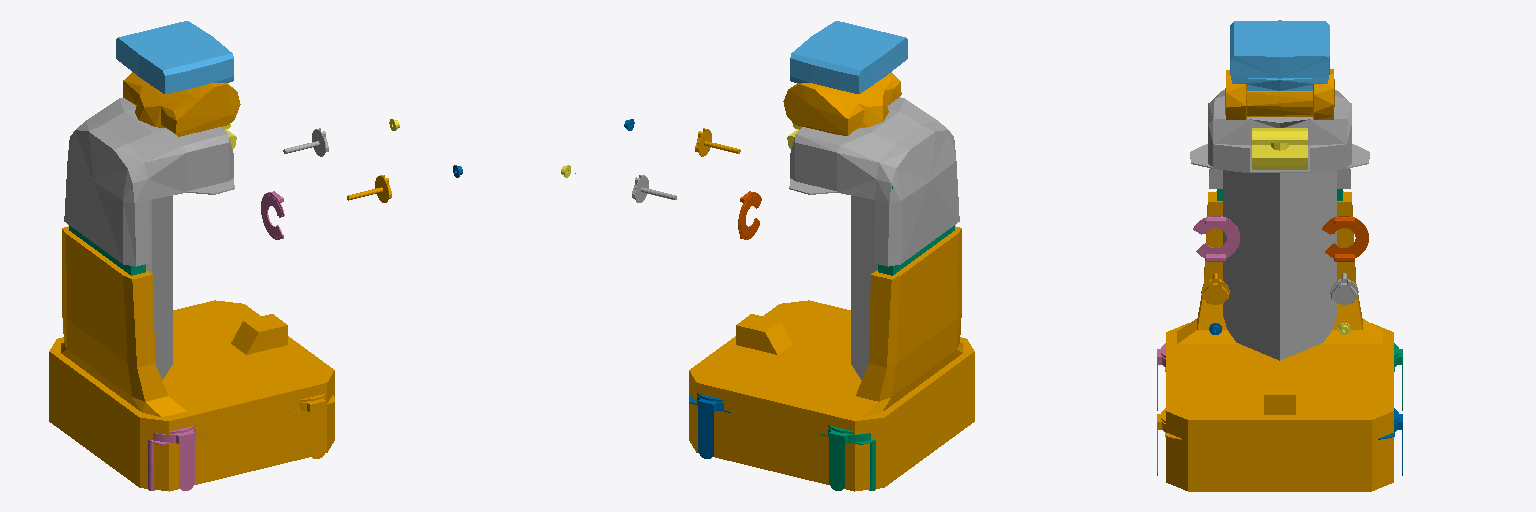
--- What the picture shows (computed from the rendered views, not written in the file) ---
The picture shows the robot from 3 angles, left to right: view 1: azimuth 30°, elevation 25°; view 2: azimuth 150°, elevation 25°; view 3: azimuth 270°, elevation 25°; orthographic projection.
Model pr2 with 50 links and 49 joints (21 revolute, 16 continuous, 1 prismatic, 11 fixed), rooted at base_footprint, posed all joints at 0.
Links seen in each view (by area): view 1: base_link, torso_lift_link, head_tilt_link, head_pan_link, br_caster_r_wheel_link, fr_caster_r_wheel_link, r_upper_arm_roll_link; view 2: base_link, torso_lift_link, head_tilt_link, head_pan_link, bl_caster_l_wheel_link, fl_caster_l_wheel_link, l_upper_arm_roll_link; view 3: base_link, torso_lift_link, head_tilt_link, head_pan_link, laser_tilt_mount_link, r_upper_arm_roll_link, l_upper_arm_roll_link, r_forearm_roll_link, l_forearm_roll_link.
Link boxes in pixels (bbox=[...]): base_link: bbox=[49, 226, 334, 491]; torso_lift_link: bbox=[64, 98, 234, 379]; head_tilt_link: bbox=[116, 21, 233, 93]; head_pan_link: bbox=[123, 72, 240, 136]; br_caster_r_wheel_link: bbox=[148, 425, 203, 490]; fr_caster_r_wheel_link: bbox=[293, 393, 334, 458]; r_upper_arm_roll_link: bbox=[261, 191, 284, 239]; base_link: bbox=[689, 226, 974, 491]; torso_lift_link: bbox=[789, 97, 959, 379]; head_tilt_link: bbox=[790, 21, 907, 93]; head_pan_link: bbox=[783, 72, 901, 135]; bl_caster_l_wheel_link: bbox=[820, 425, 875, 490]; fl_caster_l_wheel_link: bbox=[689, 393, 730, 458]; l_upper_arm_roll_link: bbox=[738, 191, 761, 239]; base_link: bbox=[1166, 191, 1393, 491]; torso_lift_link: bbox=[1190, 90, 1369, 360]; head_tilt_link: bbox=[1230, 20, 1329, 90]; head_pan_link: bbox=[1225, 69, 1334, 119]; laser_tilt_mount_link: bbox=[1252, 128, 1307, 169]; r_upper_arm_roll_link: bbox=[1193, 216, 1239, 261]; l_upper_arm_roll_link: bbox=[1322, 216, 1368, 261]; r_forearm_roll_link: bbox=[1201, 273, 1229, 304]; l_forearm_roll_link: bbox=[1330, 273, 1358, 304].
Bounding box of the posed robot: 1.15 × 0.7202 × 1.33 m (x, y, z).
Meshes: 18 distinct files referenced, 23 mesh visuals loaded (9 OBJ); not drawn: 22 (reference not matched to a file when rendering).

The robot description file, URDF, robot "pr2":
<?xml version="1.0" ?>
<!-- =================================================================================== -->
<!-- |    This document was autogenerated by xacro from pr2.urdf.xacro                 | -->
<!-- |    EDITING THIS FILE BY HAND IS NOT RECOMMENDED                                 | -->
<!-- =================================================================================== -->
<robot name="pr2" xmlns:xacro="http://www.ros.org/wiki/xacro">
  <link name="base_link">
    <inertial>
      <mass value="116.0"/>
      <origin xyz="-0.061 0.0 0.1465"/>
      <inertia ixx="5.652232699207" ixy="-0.009719934438" ixz="1.293988226423" iyy="5.669473158652" iyz="-0.007379583694" izz="3.683196351726"/>
    </inertial>
    <visual>
      <origin rpy="0 0 0" xyz="0 0 0"/>
      <geometry>
        <mesh filename="meshes_obj/base_v0/base_L.obj"/>
      </geometry>
    </visual>
    <collision>
      <origin rpy="0 0 0" xyz="0 0 0"/>
      <geometry>
        <mesh filename="meshes_obj/base_v0/base_L.obj"/>
      </geometry>
    </collision>
  </link>
  <link name="base_footprint">
    <inertial>
      <mass value="1.0"/>
      <origin xyz="0 0 0"/>
      <inertia ixx="0.01" ixy="0.0" ixz="0.0" iyy="0.01" iyz="0.0" izz="0.01"/>
    </inertial>
    <visual>
      <origin rpy="0 0 0" xyz="0 0 0"/>
      <geometry>
        <box size="0.01 0.01 0.01"/>
      </geometry>
    </visual>
    <collision>
      <origin rpy="0 0 0" xyz="0 0 0.071"/>
      <geometry>
        <box size="0.001 0.001 0.001"/>
      </geometry>
    </collision>
  </link>
  <joint name="base_footprint_joint" type="fixed">
    <origin rpy="0 0 0" xyz="0 0 0.051"/>
    <child link="base_link"/>
    <parent link="base_footprint"/>
  </joint>
  <!-- visualize bellow -->
  <link name="base_bellow_link">
    <inertial>
      <mass value="1.0"/>
      <origin xyz="0 0 0"/>
      <inertia ixx="0.01" ixy="0.0" ixz="0.0" iyy="0.01" iyz="0.0" izz="0.01"/>
    </inertial>
    <visual>
      <origin rpy="0 0 0" xyz="0 0 0"/>
      <geometry>
        <box size="0.05 0.37 0.3"/>
      </geometry>
    </visual>
    <collision>
      <origin rpy="0 0 0" xyz="0 0 0"/>
      <geometry>
        <box size="0.05 0.37 0.3"/>
      </geometry>
    </collision>
  </link>
  <joint name="base_bellow_joint" type="fixed">
    <origin rpy="0 0 0" xyz="-0.29 0 0.8"/>
    <parent link="base_link"/>
    <child link="base_bellow_link"/>
  </joint>
  <!-- <joint name="base_laser_joint" type="fixed">
    <axis xyz="0 1 0"/>
    <origin rpy="0 0 0" xyz="0.275 0.0 0.252"/>
    <parent link="base_link"/>
    <child link="base_laser_link"/>
  </joint>
  <link name="base_laser_link" type="laser">
    <inertial>
      <mass value="0.001"/>
      <origin rpy="0 0 0" xyz="0 0 0"/>
      <inertia ixx="0.0001" ixy="0" ixz="0" iyy="0.000001" iyz="0" izz="0.0001"/>
    </inertial>
  </link> -->
  <joint name="fl_caster_rotation_joint" type="continuous">
    <axis xyz="0 0 1"/>
    <limit effort="6.5" velocity="10"/>
    <!-- alpha tested velocity and effort limits -->
    <safety_controller k_velocity="10"/>
    <calibration rising="-0.785398163397"/>
    <dynamics damping="1.0" friction="0.0"/>
    <origin rpy="0 0 0" xyz="0.2246 0.2246 0.0282"/>
    <parent link="base_link"/>
    <child link="fl_caster_rotation_link"/>
  </joint>
  <link name="fl_caster_rotation_link">
    <inertial>
      <mass value="3.473082"/>
      <origin xyz="0 0 0.07"/>
      <inertia ixx="0.012411765597" ixy="-0.000711733678" ixz="0.00050272983" iyy="0.015218160428" iyz="-0.000004273467" izz="0.011763977943"/>
    </inertial>
    <visual>
      <origin rpy="0 0 0" xyz="0 0 0"/>
      <geometry>
        <mesh filename="meshes_obj/base_v0/caster.obj"/>
      </geometry>
    </visual>
    <collision>
      <origin rpy="0 0 0" xyz="0 0 0"/>
      <geometry>
        <mesh filename="meshes_obj/base_v0/caster_L.obj"/>
      </geometry>
    </collision>
  </link>
  <transmission name="fl_caster_rotation_trans" type="pr2_mechanism_model/SimpleTransmission">
    <actuator name="fl_caster_rotation_motor"/>
    <joint name="fl_caster_rotation_joint"/>
    <mechanicalReduction>-79.2380952381</mechanicalReduction>
  </transmission>
  <joint name="fl_caster_l_wheel_joint" type="continuous">
    <axis xyz="0 1 0"/>
    <limit effort="7" velocity="15"/>
    <!-- alpha tested effort and velocity limits -->
    <safety_controller k_velocity="10"/>
    <dynamics damping="1.0" friction="0.0"/>
    <origin rpy="0 0 0" xyz="0 0.049 0"/>
    <parent link="fl_caster_rotation_link"/>
    <child link="fl_caster_l_wheel_link"/>
  </joint>
  <link name="fl_caster_l_wheel_link">
    <inertial>
      <mass value="0.44036"/>
      <origin xyz="0 0 0"/>
      <inertia ixx="0.012411765597" ixy="-0.000711733678" ixz="0.00050272983" iyy="0.015218160428" iyz="-0.000004273467" izz="0.011763977943"/>
    </inertial>
    <visual>
      <origin rpy="0 0 0" xyz="0 0 0"/>
      <geometry>
        <mesh filename="meshes_obj/base_v0/caster.obj"/>
      </geometry>
    </visual>
    <collision>
      <origin rpy="1.57079632679 0 0" xyz="0 0 0"/>
      <!-- rotation because cyl. geom primitive has symmetry axis in +x direction -->
      <geometry>
        <cylinder length="0.034" radius="0.074792"/>
      </geometry>
    </collision>
  </link>
  <transmission name="fl_caster_l_wheel_trans" type="pr2_mechanism_model/SimpleTransmission">
    <actuator name="fl_caster_l_wheel_motor"/>
    <joint name="fl_caster_l_wheel_joint"/>
    <mechanicalReduction>79.2380952381</mechanicalReduction>
  </transmission>
  <joint name="fl_caster_r_wheel_joint" type="continuous">
    <axis xyz="0 1 0"/>
    <limit effort="7" velocity="15"/>
    <!-- alpha tested effort and velocity limits -->
    <safety_controller k_velocity="10"/>
    <dynamics damping="1.0" friction="0.0"/>
    <origin rpy="0 0 0" xyz="0 -0.049 0"/>
    <parent link="fl_caster_rotation_link"/>
    <child link="fl_caster_r_wheel_link"/>
  </joint>
  <link name="fl_caster_r_wheel_link">
    <inertial>
      <mass value="0.44036"/>
      <origin xyz="0 0 0"/>
      <inertia ixx="0.012411765597" ixy="-0.000711733678" ixz="0.00050272983" iyy="0.015218160428" iyz="-0.000004273467" izz="0.011763977943"/>
    </inertial>
    <visual>
      <origin rpy="0 0 0" xyz="0 0 0"/>
      <geometry>
        <mesh filename="meshes_obj/base_v0/caster.obj"/>
      </geometry>
    </visual>
    <collision>
      <origin rpy="1.57079632679 0 0" xyz="0 0 0"/>
      <!-- rotation because cyl. geom primitive has symmetry axis in +x direction -->
      <geometry>
        <cylinder length="0.034" radius="0.074792"/>
      </geometry>
    </collision>
  </link>
  <transmission name="fl_caster_r_wheel_trans" type="pr2_mechanism_model/SimpleTransmission">
    <actuator name="fl_caster_r_wheel_motor"/>
    <joint name="fl_caster_r_wheel_joint"/>
    <mechanicalReduction>-79.2380952381</mechanicalReduction>
  </transmission>
  <joint name="fr_caster_rotation_joint" type="continuous">
    <axis xyz="0 0 1"/>
    <limit effort="6.5" velocity="10"/>
    <!-- alpha tested velocity and effort limits -->
    <safety_controller k_velocity="10"/>
    <calibration rising="-0.785398163397"/>
    <dynamics damping="1.0" friction="0.0"/>
    <origin rpy="0 0 0" xyz="0.2246 -0.2246 0.0282"/>
    <parent link="base_link"/>
    <child link="fr_caster_rotation_link"/>
  </joint>
  <link name="fr_caster_rotation_link">
    <inertial>
      <mass value="3.473082"/>
      <origin xyz="0 0 0.07"/>
      <inertia ixx="0.012411765597" ixy="-0.000711733678" ixz="0.00050272983" iyy="0.015218160428" iyz="-0.000004273467" izz="0.011763977943"/>
    </inertial>
    <visual>
      <origin rpy="0 0 0" xyz="0 0 0"/>
      <geometry>
        <mesh filename="meshes_obj/base_v0/caster.obj"/>
      </geometry>
    </visual>
    <collision>
      <origin rpy="0 0 0" xyz="0 0 0"/>
      <geometry>
        <mesh filename="meshes_obj/base_v0/caster_L.obj"/>
      </geometry>
    </collision>
  </link>
  <transmission name="fr_caster_rotation_trans" type="pr2_mechanism_model/SimpleTransmission">
    <actuator name="fr_caster_rotation_motor"/>
    <joint name="fr_caster_rotation_joint"/>
    <mechanicalReduction>-79.2380952381</mechanicalReduction>
  </transmission>
  <joint name="fr_caster_l_wheel_joint" type="continuous">
    <axis xyz="0 1 0"/>
    <limit effort="7" velocity="15"/>
    <!-- alpha tested effort and velocity limits -->
    <safety_controller k_velocity="10"/>
    <dynamics damping="1.0" friction="0.0"/>
    <origin rpy="0 0 0" xyz="0 0.049 0"/>
    <parent link="fr_caster_rotation_link"/>
    <child link="fr_caster_l_wheel_link"/>
  </joint>
  <link name="fr_caster_l_wheel_link">
    <inertial>
      <mass value="0.44036"/>
      <origin xyz="0 0 0"/>
      <inertia ixx="0.012411765597" ixy="-0.000711733678" ixz="0.00050272983" iyy="0.015218160428" iyz="-0.000004273467" izz="0.011763977943"/>
    </inertial>
    <visual>
      <origin rpy="0 0 0" xyz="0 0 0"/>
      <geometry>
        <mesh filename="meshes_obj/base_v0/caster.obj"/>
      </geometry>
    </visual>
    <collision>
      <origin rpy="1.57079632679 0 0" xyz="0 0 0"/>
      <!-- rotation because cyl. geom primitive has symmetry axis in +x direction -->
      <geometry>
        <cylinder length="0.034" radius="0.074792"/>
      </geometry>
    </collision>
  </link>
  <transmission name="fr_caster_l_wheel_trans" type="pr2_mechanism_model/SimpleTransmission">
    <actuator name="fr_caster_l_wheel_motor"/>
    <joint name="fr_caster_l_wheel_joint"/>
    <mechanicalReduction>79.2380952381</mechanicalReduction>
  </transmission>
  <joint name="fr_caster_r_wheel_joint" type="continuous">
    <axis xyz="0 1 0"/>
    <limit effort="7" velocity="15"/>
    <!-- alpha tested effort and velocity limits -->
    <safety_controller k_velocity="10"/>
    <dynamics damping="1.0" friction="0.0"/>
    <origin rpy="0 0 0" xyz="0 -0.049 0"/>
    <parent link="fr_caster_rotation_link"/>
    <child link="fr_caster_r_wheel_link"/>
  </joint>
  <link name="fr_caster_r_wheel_link">
    <inertial>
      <mass value="0.44036"/>
      <origin xyz="0 0 0"/>
      <inertia ixx="0.012411765597" ixy="-0.000711733678" ixz="0.00050272983" iyy="0.015218160428" iyz="-0.000004273467" izz="0.011763977943"/>
    </inertial>
    <visual>
      <origin rpy="0 0 0" xyz="0 0 0"/>
      <geometry>
        <mesh filename="meshes_obj/base_v0/caster.obj"/>
      </geometry>
    </visual>
    <collision>
      <origin rpy="1.57079632679 0 0" xyz="0 0 0"/>
      <!-- rotation because cyl. geom primitive has symmetry axis in +x direction -->
      <geometry>
        <cylinder length="0.034" radius="0.074792"/>
      </geometry>
    </collision>
  </link>
  <transmission name="fr_caster_r_wheel_trans" type="pr2_mechanism_model/SimpleTransmission">
    <actuator name="fr_caster_r_wheel_motor"/>
    <joint name="fr_caster_r_wheel_joint"/>
    <mechanicalReduction>-79.2380952381</mechanicalReduction>
  </transmission>
  <joint name="bl_caster_rotation_joint" type="continuous">
    <axis xyz="0 0 1"/>
    <limit effort="6.5" velocity="10"/>
    <!-- alpha tested velocity and effort limits -->
    <safety_controller k_velocity="10"/>
    <calibration rising="2.35619449019"/>
    <dynamics damping="1.0" friction="0.0"/>
    <origin rpy="0 0 0" xyz="-0.2246 0.2246 0.0282"/>
    <parent link="base_link"/>
    <child link="bl_caster_rotation_link"/>
  </joint>
  <link name="bl_caster_rotation_link">
    <inertial>
      <mass value="3.473082"/>
      <origin xyz="0 0 0.07"/>
      <inertia ixx="0.012411765597" ixy="-0.000711733678" ixz="0.00050272983" iyy="0.015218160428" iyz="-0.000004273467" izz="0.011763977943"/>
    </inertial>
    <visual>
      <origin rpy="0 0 0" xyz="0 0 0"/>
      <geometry>
        <mesh filename="meshes_obj/base_v0/caster.obj"/>
      </geometry>
    </visual>
    <collision>
      <origin rpy="0 0 0" xyz="0 0 0"/>
      <geometry>
        <mesh filename="meshes_obj/base_v0/caster_L.obj"/>
      </geometry>
    </collision>
  </link>
  <transmission name="bl_caster_rotation_trans" type="pr2_mechanism_model/SimpleTransmission">
    <actuator name="bl_caster_rotation_motor"/>
    <joint name="bl_caster_rotation_joint"/>
    <mechanicalReduction>-79.2380952381</mechanicalReduction>
  </transmission>
  <joint name="bl_caster_l_wheel_joint" type="continuous">
    <axis xyz="0 1 0"/>
    <limit effort="7" velocity="15"/>
    <!-- alpha tested effort and velocity limits -->
    <safety_controller k_velocity="10"/>
    <dynamics damping="1.0" friction="0.0"/>
    <origin rpy="0 0 0" xyz="0 0.049 0"/>
    <parent link="bl_caster_rotation_link"/>
    <child link="bl_caster_l_wheel_link"/>
  </joint>
  <link name="bl_caster_l_wheel_link">
    <inertial>
      <mass value="0.44036"/>
      <origin xyz="0 0 0"/>
      <inertia ixx="0.012411765597" ixy="-0.000711733678" ixz="0.00050272983" iyy="0.015218160428" iyz="-0.000004273467" izz="0.011763977943"/>
    </inertial>
    <visual>
      <origin rpy="0 0 0" xyz="0 0 0"/>
      <geometry>
        <mesh filename="meshes_obj/base_v0/caster.obj"/>
      </geometry>
    </visual>
    <collision>
      <origin rpy="1.57079632679 0 0" xyz="0 0 0"/>
      <!-- rotation because cyl. geom primitive has symmetry axis in +x direction -->
      <geometry>
        <cylinder length="0.034" radius="0.074792"/>
      </geometry>
    </collision>
  </link>
  <!-- <gazebo reference="bl_caster_l_wheel_link">
    <mu1 value="100.0"/>
    <mu2 value="100.0"/>
    <kp value="1000000.0"/>
    <kd value="1.0"/>
    <maxVel value="100.0"/>
    <minDepth value="0.0"/>
  </gazebo> -->
  <transmission name="bl_caster_l_wheel_trans" type="pr2_mechanism_model/SimpleTransmission">
    <actuator name="bl_caster_l_wheel_motor"/>
    <joint name="bl_caster_l_wheel_joint"/>
    <mechanicalReduction>79.2380952381</mechanicalReduction>
  </transmission>
  <joint name="bl_caster_r_wheel_joint" type="continuous">
    <axis xyz="0 1 0"/>
    <limit effort="7" velocity="15"/>
    <!-- alpha tested effort and velocity limits -->
    <safety_controller k_velocity="10"/>
    <dynamics damping="1.0" friction="0.0"/>
    <origin rpy="0 0 0" xyz="0 -0.049 0"/>
    <parent link="bl_caster_rotation_link"/>
    <child link="bl_caster_r_wheel_link"/>
  </joint>
  <link name="bl_caster_r_wheel_link">
    <inertial>
      <mass value="0.44036"/>
      <origin xyz="0 0 0"/>
      <inertia ixx="0.012411765597" ixy="-0.000711733678" ixz="0.00050272983" iyy="0.015218160428" iyz="-0.000004273467" izz="0.011763977943"/>
    </inertial>
    <visual>
      <origin rpy="0 0 0" xyz="0 0 0"/>
      <geometry>
        <mesh filename="meshes_obj/base_v0/caster.obj"/>
      </geometry>
    </visual>
    <collision>
      <origin rpy="1.57079632679 0 0" xyz="0 0 0"/>
      <!-- rotation because cyl. geom primitive has symmetry axis in +x direction -->
      <geometry>
        <cylinder length="0.034" radius="0.074792"/>
      </geometry>
    </collision>
  </link>
  <!-- <gazebo reference="bl_caster_r_wheel_link">
    <mu1 value="100.0"/>
    <mu2 value="100.0"/>
    <kp value="1000000.0"/>
    <kd value="1.0"/>
    <maxVel value="100.0"/>
    <minDepth value="0.0"/>
  </gazebo> -->
  <transmission name="bl_caster_r_wheel_trans" type="pr2_mechanism_model/SimpleTransmission">
    <actuator name="bl_caster_r_wheel_motor"/>
    <joint name="bl_caster_r_wheel_joint"/>
    <mechanicalReduction>-79.2380952381</mechanicalReduction>
  </transmission>
  <!-- <gazebo reference="bl_caster_rotation_link">
    <material value="PR2/caster_texture"/>
  </gazebo> -->
  <joint name="br_caster_rotation_joint" type="continuous">
    <axis xyz="0 0 1"/>
    <limit effort="6.5" velocity="10"/>
    <!-- alpha tested velocity and effort limits -->
    <safety_controller k_velocity="10"/>
    <calibration rising="2.35619449019"/>
    <dynamics damping="1.0" friction="0.0"/>
    <origin rpy="0 0 0" xyz="-0.2246 -0.2246 0.0282"/>
    <parent link="base_link"/>
    <child link="br_caster_rotation_link"/>
  </joint>
  <link name="br_caster_rotation_link">
    <inertial>
      <mass value="3.473082"/>
      <origin xyz="0 0 0.07"/>
      <inertia ixx="0.012411765597" ixy="-0.000711733678" ixz="0.00050272983" iyy="0.015218160428" iyz="-0.000004273467" izz="0.011763977943"/>
    </inertial>
    <visual>
      <origin rpy="0 0 0" xyz="0 0 0"/>
      <geometry>
        <mesh filename="meshes_obj/base_v0/caster.obj"/>
      </geometry>
    </visual>
    <collision>
      <origin rpy="0 0 0" xyz="0 0 0"/>
      <geometry>
        <mesh filename="meshes_obj/base_v0/caster_L.obj"/>
      </geometry>
    </collision>
  </link>
  <transmission name="br_caster_rotation_trans" type="pr2_mechanism_model/SimpleTransmission">
    <actuator name="br_caster_rotation_motor"/>
    <joint name="br_caster_rotation_joint"/>
    <mechanicalReduction>-79.2380952381</mechanicalReduction>
  </transmission>
  <joint name="br_caster_l_wheel_joint" type="continuous">
    <axis xyz="0 1 0"/>
    <limit effort="7" velocity="15"/>
    <!-- alpha tested effort and velocity limits -->
    <safety_controller k_velocity="10"/>
    <dynamics damping="1.0" friction="0.0"/>
    <origin rpy="0 0 0" xyz="0 0.049 0"/>
    <parent link="br_caster_rotation_link"/>
    <child link="br_caster_l_wheel_link"/>
  </joint>
  <link name="br_caster_l_wheel_link">
    <inertial>
      <mass value="0.44036"/>
      <origin xyz="0 0 0"/>
      <inertia ixx="0.012411765597" ixy="-0.000711733678" ixz="0.00050272983" iyy="0.015218160428" iyz="-0.000004273467" izz="0.011763977943"/>
    </inertial>
    <visual>
      <origin rpy="0 0 0" xyz="0 0 0"/>
      <geometry>
        <mesh filename="meshes_obj/base_v0/caster.obj"/>
      </geometry>
    </visual>
    <collision>
      <origin rpy="1.57079632679 0 0" xyz="0 0 0"/>
      <!-- rotation because cyl. geom primitive has symmetry axis in +x direction -->
      <geometry>
        <cylinder length="0.034" radius="0.074792"/>
      </geometry>
    </collision>
  </link>
  <!-- <gazebo reference="br_caster_l_wheel_link">
    <mu1 value="100.0"/>
    <mu2 value="100.0"/>
    <kp value="1000000.0"/>
    <kd value="1.0"/>
    <maxVel value="100.0"/>
    <minDepth value="0.0"/>
  </gazebo> -->
  <transmission name="br_caster_l_wheel_trans" type="pr2_mechanism_model/SimpleTransmission">
    <actuator name="br_caster_l_wheel_motor"/>
    <joint name="br_caster_l_wheel_joint"/>
    <mechanicalReduction>79.2380952381</mechanicalReduction>
  </transmission>
  <joint name="br_caster_r_wheel_joint" type="continuous">
    <axis xyz="0 1 0"/>
    <limit effort="7" velocity="15"/>
    <!-- alpha tested effort and velocity limits -->
    <safety_controller k_velocity="10"/>
    <dynamics damping="1.0" friction="0.0"/>
    <origin rpy="0 0 0" xyz="0 -0.049 0"/>
    <parent link="br_caster_rotation_link"/>
    <child link="br_caster_r_wheel_link"/>
  </joint>
  <link name="br_caster_r_wheel_link">
    <inertial>
      <mass value="0.44036"/>
      <origin xyz="0 0 0"/>
      <inertia ixx="0.012411765597" ixy="-0.000711733678" ixz="0.00050272983" iyy="0.015218160428" iyz="-0.000004273467" izz="0.011763977943"/>
    </inertial>
    <visual>
      <origin rpy="0 0 0" xyz="0 0 0"/>
      <geometry>
        <mesh filename="meshes_obj/base_v0/caster.obj"/>
      </geometry>
    </visual>
    <collision>
      <origin rpy="1.57079632679 0 0" xyz="0 0 0"/>
      <!-- rotation because cyl. geom primitive has symmetry axis in +x direction -->
      <geometry>
        <cylinder length="0.034" radius="0.074792"/>
      </geometry>
    </collision>
  </link>
  <!-- <gazebo reference="br_caster_r_wheel_link">
    <mu1 value="100.0"/>
    <mu2 value="100.0"/>
    <kp value="1000000.0"/>
    <kd value="1.0"/>
    <maxVel value="100.0"/>
    <minDepth value="0.0"/>
  </gazebo> -->
  <transmission name="br_caster_r_wheel_trans" type="pr2_mechanism_model/SimpleTransmission">
    <actuator name="br_caster_r_wheel_motor"/>
    <joint name="br_caster_r_wheel_joint"/>
    <mechanicalReduction>-79.2380952381</mechanicalReduction>
  </transmission>
  <!-- <gazebo reference="br_caster_rotation_link">
    <material value="PR2/caster_texture"/>
  </gazebo>
  <gazebo reference="base_link">
    <selfCollide>false</selfCollide>
    <sensor name="base_contact_sensor" type="contact">
      <always_on>true</always_on>
      <update_rate>100.0</update_rate>
      <contact>
        <collision>base_link_collision</collision>
      </contact>
      <plugin filename="libgazebo_ros_bumper.so" name="base_gazebo_ros_bumper_controller">
        <alwaysOn>true</alwaysOn>
        <updateRate>100.0</updateRate>
        <bumperTopicName>base_bumper</bumperTopicName>
        <frameName>world</frameName>
      </plugin>
    </sensor>
  </gazebo>
  <gazebo reference="base_bellow_link">
    <material value="PR2/Black"/>
  </gazebo>
  <gazebo>
    <plugin filename="libgazebo_ros_p3d.so" name="p3d_base_controller">
      <alwaysOn>true</alwaysOn>
      <updateRate>100.0</updateRate>
      <bodyName>base_link</bodyName>
      <topicName>base_pose_ground_truth</topicName>
      <gaussianNoise>0.01</gaussianNoise>
      <frameName>map</frameName>
      <xyzOffsets>0 0 0</xyzOffsets>
      <rpyOffsets>0 0 0</rpyOffsets>
    </plugin>
  </gazebo> -->
  <joint name="torso_lift_joint" type="prismatic">
    <axis xyz="0 0 1"/>
    <limit effort="10000" lower="0.0" upper="0.33" velocity="0.013"/>
    <!-- alpha tested velocity and effort limits -->
    <safety_controller k_position="100" k_velocity="2000000" soft_lower_limit="0.0115" soft_upper_limit="0.325"/>
    <calibration falling="0.00475"/>
    <dynamics damping="20000.0"/>
    <origin rpy="0 0 0" xyz="-0.05 0 0.739675"/>
    <parent link="base_link"/>
    <child link="torso_lift_link"/>
  </joint>
  <link name="torso_lift_link">
    <inertial>
      <mass value="36.248046"/>
      <origin xyz="-0.1 0 -0.0885"/>
      <inertia ixx="2.771653750257" ixy="0.004284522609" ixz="-0.160418504506" iyy="2.510019507959" iyz="0.029664468704" izz="0.526432355569"/>
    </inertial>
    <visual>
      <origin rpy="0 0 0" xyz="0 0 0"/>
      <geometry>
        <mesh filename="meshes_obj/torso_v0/torso_lift_L.obj"/>
      </geometry>
    </visual>
    <collision name="torso_lift_collision">
      <origin rpy="0 0 0" xyz="0 0 0"/>
      <geometry>
        <mesh filename="meshes_obj/torso_v0/torso_lift_L.obj"/>
      </geometry>
    </collision>
  </link>
  <!-- <joint name="l_torso_lift_side_plate_joint" type="fixed">
    <origin xyz="0.0535 0.209285 0.176625"/>
    <parent link="torso_lift_link"/>
    <child link="l_torso_lift_side_plate_link"/>
  </joint>
  <link name="l_torso_lift_side_plate_link">
    <inertial>
      <mass value="0.1"/>
      <origin xyz="-0.0625 0.0 0.05"/>
      <inertia ixx="0.001" ixy="0.0" ixz="0.0" iyy="0.001" iyz="0.0" izz="0.001"/>
    </inertial>
  </link> -->
  <!-- <joint name="r_torso_lift_side_plate_joint" type="fixed">
    <origin xyz="0.0535  -0.209285 0.176625"/>
    <parent link="torso_lift_link"/>
    <child link="r_torso_lift_side_plate_link"/>
  </joint>
  <link name="r_torso_lift_side_plate_link">
    <inertial>
      <mass value="0.1"/>
      <origin xyz="-0.0625 0.0 0.05"/>
      <inertia ixx="0.001" ixy="0.0" ixz="0.0" iyy="0.001" iyz="0.0" izz="0.001"/>
    </inertial>
  </link> -->
  <!-- <link name="torso_lift_motor_screw_link">
    <inertial>
      <mass value="1.0"/>
      <origin rpy="0 0 0" xyz="0 0 0"/>
      <inertia ixx="0.001" ixy="0.0" ixz="0.0" iyy="0.001" iyz="0.0" izz="0.001"/>
    </inertial>
  </link>
  <joint name="torso_lift_motor_screw_joint" type="continuous">
    <origin xyz="-0.15 0.0 0.7"/>
    <axis xyz="0 0 1"/>
    <parent link="base_link"/>
    <child link="torso_lift_motor_screw_link"/>
    <dynamics damping="0.0001"/>
  </joint> -->
  <!-- <gazebo reference="torso_lift_link">
    <sensor name="torso_lift_contact_sensor" type="contact">
      <contact>
        <collision>torso_lift_link_collision</collision>
      </contact>
      <update_rate>100.0</update_rate>
      <plugin filename="libgazebo_ros_bumper.so" name="torso_lift_gazebo_ros_bumper_controller">
        <alwaysOn>true</alwaysOn>
        <updateRate>100.0</updateRate>
        <bumperTopicName>torso_lift_bumper</bumperTopicName>
        <frameName>world</frameName>
      </plugin>
    </sensor>
  </gazebo>
  <gazebo>
    <joint name="torso_lift_screw_torso_lift_joint" type="screw">
      <parent>torso_lift_link</parent>
      <child>torso_lift_motor_screw_link</child>
      <axis>
        <xyz>0 0 1</xyz>
      </axis>
      <thread_pitch>3141.6</thread_pitch>
    </joint>
  </gazebo> -->
  <transmission name="torso_lift_trans" type="pr2_mechanism_model/SimpleTransmission">
    <actuator name="torso_lift_motor"/>
    <joint name="torso_lift_joint"/>
    <mechanicalReduction>-47641.53</mechanicalReduction>
    <simulated_actuated_joint name="torso_lift_motor_screw_joint" simulated_reduction="3141.6"/>
  </transmission>
  <!-- <joint name="imu_joint" type="fixed">
    <axis xyz="0 1 0"/>
    <origin rpy="0 3.14159265359 0" xyz="-0.02977 -0.1497 0.164"/>
    <parent link="torso_lift_link"/>
    <child link="imu_link"/>
  </joint>
  <link name="imu_link">
    <inertial>
      <mass value="0.001"/>
      <origin rpy="0 0 0" xyz="0 0 0"/>
      <inertia ixx="0.0001" ixy="0" ixz="0" iyy="0.000001" iyz="0" izz="0.0001"/>
    </inertial>
  </link> -->
  <!-- <gazebo>
    <plugin filename="libgazebo_ros_imu.so" name="imu_controller">
      <alwaysOn>true</alwaysOn>
      <updateRate>100.0</updateRate>
      <bodyName>imu_link</bodyName>
      <topicName>torso_lift_imu/data</topicName>
      <gaussianNoise>2.89e-08</gaussianNoise>
      <xyzOffset>0 0 0</xyzOffset>
      <rpyOffset>0 -180.0 0</rpyOffset>
      <serviceName>/default_imu</serviceName>
    </plugin>
  </gazebo> -->
  <joint name="head_pan_joint" type="revolute">
    <axis xyz="0 0 1"/>
    <limit effort="2.645" lower="-3.007" upper="3.007" velocity="6"/>
    <!-- alpha tested velocity and effort limits -->
    <safety_controller k_position="100" k_velocity="1.5" soft_lower_limit="-2.857" soft_upper_limit="2.857"/>
    <calibration rising="0.0"/>
    <dynamics damping="0.5"/>
    <origin rpy="0.0 0.0 0.0" xyz="-0.01707 0.0 0.38145"/>
    <parent link="torso_lift_link"/>
    <child link="head_pan_link"/>
  </joint>
  <link name="head_pan_link">
    <inertial>
      <mass value="6.339"/>
      <!-- mass/cog/moi updated per 100505_link_data.xls -->
      <origin rpy="0 0 0" xyz="0.010907 0.031693 0.090507"/>
      <inertia ixx="0.032497592" ixy="0.00063604088" ixz="0.0025851534" iyy="0.046545627" iyz="-0.0024534295" izz="0.057652724"/>
    </inertial>
    <visual>
      <origin rpy="0 0 0 " xyz="0 0 0.0"/>
      <geometry>
        <mesh filename="meshes_obj/head_v0/head_pan_L.obj"/>
      </geometry>
    </visual>
    <collision>
      <geometry>
        <mesh filename="meshes_obj/head_v0/head_pan_L.obj"/>
      </geometry>
    </collision>
  </link>
  <transmission name="head_pan_trans" type="pr2_mechanism_model/SimpleTransmission">
    <actuator name="head_pan_motor"/>
    <joint name="head_pan_joint"/>
    <mechanicalReduction>6.0</mechanicalReduction>
  </transmission>
  <joint name="head_tilt_joint" type="revolute">
    <axis xyz="0 1 0"/>
    <limit effort="18" lower="-0.471238" upper="1.39626" velocity="5"/>
    <!-- alpha tested velocity and effort limits -->
    <safety_controller k_position="100" k_velocity="3.0" soft_lower_limit="-0.3712" soft_upper_limit="1.29626"/>
    <calibration falling="0.0"/>
    <dynamics damping="10.0"/>
    <origin rpy="0 0 0" xyz="0.068 0 0"/>
    <parent link="head_pan_link"/>
    <child link="head_tilt_link"/>
  </joint>
  <link name="head_tilt_link">
    <inertial>
      <mass value="4.479"/>
      <!-- mass/cog/moi updated per 100505_link_data.xls -->
      <origin rpy="0 0 0" xyz="0.001716 -0.019556 0.055002"/>
      <inertia ixx="0.024223222" ixy="0.00062063507" ixz="-0.000096909696" iyy="0.054723086" iyz="0.00279702400" izz="0.067306377"/>
    </inertial>
    <visual>
      <origin rpy="0.0 0.0 0.0" xyz="0 0 0"/>
      <geometry>
        <mesh filename="meshes_obj/head_v0/head_tilt_L.obj"/>
      </geometry>
    </visual>
    <collision>
      <origin rpy="0.0 0.0 0.0" xyz="0 0 0"/>
      <geometry>
        <mesh filename="meshes_obj/head_v0/head_tilt_L.obj"/>
      </geometry>
    </collision>
  </link>
  <transmission name="head_tilt_trans" type="pr2_mechanism_model/SimpleTransmission">
    <actuator name="head_tilt_motor"/>
    <joint name="head_tilt_joint"/>
    <mechanicalReduction>6.0</mechanicalReduction>
  </transmission>
  <!-- Head plate frame -->
  <joint name="head_plate_frame_joint" type="fixed">
    <origin rpy="0 0 0" xyz="0.0232 0 0.0645"/>
    <parent link="head_tilt_link"/>
    <child link="head_plate_frame"/>
  </joint>
  <link name="head_plate_frame">
    <inertial>
      <mass value="0.01"/>
      <origin rpy="0 0 0" xyz="0 0 0"/>
      <inertia ixx="0.001" ixy="0.0" ixz="0.0" iyy="0.001" iyz="0.0" izz="0.001"/>
    </inertial>
    <visual>
      <origin rpy="0 0 0" xyz="0 0 0"/>
      <geometry>
        <box size="0.01 0.01 0.01"/>
      </geometry>
    </visual>
    <collision>
      <origin rpy="0 0 0" xyz="0 0 0"/>
      <geometry>
        <box size="0.01 0.01 0.01"/>
      </geometry>
    </collision>
  </link>
  <!-- <gazebo reference="head_plate_frame">
    <material value="Gazebo/Grey"/>
  </gazebo> -->
  <!-- <joint name="sensor_mount_frame_joint" type="fixed">
    <origin rpy="0 0 0" xyz="0.0 0.0 0.0"/>
    <parent link="head_plate_frame"/>
    <child link="sensor_mount_link"/>
  </joint>
  <link name="sensor_mount_link">
    <inertial>
      <mass value="0.05"/>
      <origin rpy="0 0 0" xyz="0 0 0"/>
      <inertia ixx="0.001" ixy="0.0" ixz="0.0" iyy="0.001" iyz="0.0" izz="0.01"/>
    </inertial>
    <visual>
      <origin rpy="0 0 0" xyz="0 0 0"/>
      <geometry>
        <box size="0.01 0.01 0.01"/>
      </geometry>
    </visual>
  </link>
  <joint name="high_def_frame_joint" type="fixed">
    <origin rpy="0 0 0" xyz="0.046457 -0.110 0.054600"/>
    <parent link="sensor_mount_link"/>
    <child link="high_def_frame"/>
  </joint> -->
  <!-- <link name="high_def_frame">
    <inertial>
      <mass value="0.01"/>
      <origin rpy="0 0 0" xyz="0 0 0"/>
      <inertia ixx="0.001" ixy="0.0" ixz="0.0" iyy="0.001" iyz="0.0" izz="0.001"/>
    </inertial>
  </link>
  <joint name="high_def_optical_frame_joint" type="fixed">
    <origin rpy="-1.57079632679 0.0 -1.57079632679" xyz="0.0            0.0         0.0"/>
    <parent link="high_def_frame"/>
    <child link="high_def_optical_frame"/>
  </joint>
  <link name="high_def_optical_frame">
    <inertial>
      <mass value="0.01"/>
      <origin rpy="0 0 0" xyz="0 0 0"/>
      <inertia ixx="0.001" ixy="0.0" ixz="0.0" iyy="0.001" iyz="0.0" izz="0.001"/>
    </inertial>
  </link> -->
  <!-- <gazebo reference="high_def_frame">
    <sensor name="high_def_sensor" type="camera">
      <always_on>true</always_on>
      <update_rate>20.0</update_rate>
      <camera>
        <horizontal_fov>0.785398163397</horizontal_fov>
        <image>
          <format>R8G8B8</format>
          <width>2448</width>
          <height>2050</height>
        </image>
        <clip>
          <near>0.1</near>
          <far>100</far>
        </clip>
      </camera>
      <plugin filename="libgazebo_ros_prosilica.so" name="high_def_controller">
        <updateRate>20.0</updateRate>
        <cameraName>prosilica</cameraName>
        <imageTopicName>image_raw</imageTopicName>
        <cameraInfoTopicName>camera_info</cameraInfoTopicName>
        <pollServiceName>request_image</pollServiceName>
        <frameName>high_def_optical_frame</frameName>
        <CxPrime>1224.5</CxPrime>
        <Cx>1224.5</Cx>
        <Cy>1025.5</Cy>
        <focalLength>2954.998083</focalLength>
        <distortionK1>0.0</distortionK1>
        <distortionK2>0.0</distortionK2>
        <distortionK3>0.0</distortionK3>
        <distortionT1>0.0</distortionT1>
        <distortionT2>0.0</distortionT2>
      </plugin>
    </sensor>
    <material value="Gazebo/Black"/>
  </gazebo> -->
  <!-- Define link to stereo cameras, set origin relative to that -->
  <!-- <joint name="double_stereo_frame_joint" type="fixed">
    <origin rpy="0 0 0" xyz="0.0 0.0 0.0"/>
    <parent link="sensor_mount_link"/>
    <child link="double_stereo_link"/>
  </joint>
  <link name="double_stereo_link">
    <inertial>
      <mass value="0.1"/>
      <origin rpy="0 0 0" xyz="0 0 0"/>
      <inertia ixx="0.001" ixy="0.0" ixz="0.0" iyy="0.001" iyz="0.0" izz="0.01"/>
    </inertial>
    <visual>
      <origin rpy="0 0 0" xyz="-0.01 0 0.025"/>
      <geometry>
        <box size="0.02 0.12 0.05"/>
      </geometry>
    </visual>
  </link>
  <joint name="wide_stereo_frame_joint" type="fixed">
    <origin rpy="0.0   0.0   0.0" xyz="0.045 0.03 0.0501"/>
    <parent link="double_stereo_link"/>
    <child link="wide_stereo_link"/>
  </joint> -->
  <!-- camera link is at center of the optical frame, but in x-forward notation -->
  <!-- <link name="wide_stereo_link">
    <inertial>
      <mass value="0.1"/>
      <origin rpy="0 0 0" xyz="0 0 0"/>
      <inertia ixx="0.01" ixy="0" ixz="0" iyy="0.01" iyz="0" izz="0.01"/>
    </inertial>
  </link>
  <joint name="wide_stereo_optical_frame_joint" type="fixed">
    <origin rpy="-1.57079632679 0.0 -1.57079632679" xyz="0 0 0"/>
    <parent link="wide_stereo_link"/>
    <child link="wide_stereo_optical_frame"/>
  </joint>
  <link name="wide_stereo_optical_frame" type="camera"/>
  <joint name="wide_stereo_l_stereo_camera_frame_joint" type="fixed">
    <origin rpy="0 0 0" xyz="0 0 0"/>
    <parent link="wide_stereo_link"/>
    <child link="wide_stereo_l_stereo_camera_frame"/>
  </joint>
  <link name="wide_stereo_l_stereo_camera_frame">
    <inertial>
      <mass value="0.01"/>
      <origin xyz="0 0 0"/>
      <inertia ixx="0.001" ixy="0.0" ixz="0.0" iyy="0.001" iyz="0.0" izz="0.001"/>
    </inertial>
  </link>
  <joint name="wide_stereo_l_stereo_camera_optical_frame_joint" type="fixed">
    <origin rpy="-1.57079632679 0.0 -1.57079632679" xyz="0 0 0"/>
    <parent link="wide_stereo_l_stereo_camera_frame"/>
    <child link="wide_stereo_l_stereo_camera_optical_frame"/>
  </joint>
  <link name="wide_stereo_l_stereo_camera_optical_frame"/> -->
  <!-- <gazebo reference="wide_stereo_l_stereo_camera_frame">
    <sensor name="wide_stereo_l_stereo_camera_sensor" type="camera">
      <always_on>true</always_on>
      <update_rate>25.0</update_rate>
      <camera>
        <horizontal_fov>1.57079632679</horizontal_fov>
        <image>
          <format>BAYER_BGGR8</format>
          <width>640</width>
          <height>480</height>
        </image>
        <clip>
          <near>0.1</near>
          <far>100</far>
        </clip>
      </camera>
      <plugin filename="libgazebo_ros_camera.so" name="wide_stereo_l_stereo_camera_controller">
        <alwaysOn>true</alwaysOn>
        <updateRate>25.0</updateRate>
        <cameraName>wide_stereo/left</cameraName>
        <imageTopicName>image_raw</imageTopicName>
        <cameraInfoTopicName>camera_info</cameraInfoTopicName>
        <frameName>wide_stereo_optical_frame</frameName>
        <hackBaseline>0</hackBaseline>
        <CxPrime>320.5</CxPrime>
        <Cx>320.5</Cx>
        <Cy>240.5</Cy>
        <focalLength>320.000105</focalLength>
        <distortionK1>0.0</distortionK1>
        <distortionK2>0.0</distortionK2>
        <distortionK3>0.0</distortionK3>
        <distortionT1>0.0</distortionT1>
        <distortionT2>0.0</distortionT2>
      </plugin>
    </sensor>
    <turnGravityOff>true</turnGravityOff>
    <material>PR2/Blue</material>
  </gazebo> -->
  <!-- <joint name="wide_stereo_r_stereo_camera_frame_joint" type="fixed">
    <origin rpy="0.0 0.0 0.0" xyz="0.0 -0.09 0.0"/>
    <parent link="wide_stereo_l_stereo_camera_frame"/>
    <child link="wide_stereo_r_stereo_camera_frame"/>
  </joint>
  <link name="wide_stereo_r_stereo_camera_frame">
    <inertial>
      <mass value="0.01"/>
      <origin xyz="0 0 0"/>
      <inertia ixx="0.001" ixy="0.0" ixz="0.0" iyy="0.001" iyz="0.0" izz="0.001"/>
    </inertial>
  </link>
  <joint name="wide_stereo_r_stereo_camera_optical_frame_joint" type="fixed">
    <origin rpy="-1.57079632679 0.0 -1.57079632679" xyz="0 0 0"/>
    <parent link="wide_stereo_r_stereo_camera_frame"/>
    <child link="wide_stereo_r_stereo_camera_optical_frame"/>
  </joint>
  <link name="wide_stereo_r_stereo_camera_optical_frame"/> -->
  <!-- <gazebo reference="wide_stereo_r_stereo_camera_frame">
    <sensor name="wide_stereo_r_stereo_camera_sensor" type="camera">
      <always_on>true</always_on>
      <update_rate>25.0</update_rate>
      <camera>
        <horizontal_fov>1.57079632679</horizontal_fov>
        <image>
          <format>BAYER_BGGR8</format>
          <width>640</width>
          <height>480</height>
        </image>
        <clip>
          <near>0.1</near>
          <far>100</far>
        </clip>
      </camera>
      <plugin filename="libgazebo_ros_camera.so" name="wide_stereo_r_stereo_camera_controller">
        <alwaysOn>true</alwaysOn>
        <updateRate>25.0</updateRate>
        <cameraName>wide_stereo/right</cameraName>
        <imageTopicName>image_raw</imageTopicName>
        <cameraInfoTopicName>camera_info</cameraInfoTopicName>
        <frameName>wide_stereo_optical_frame</frameName>
        <hackBaseline>0.09</hackBaseline>
        <CxPrime>320.5</CxPrime>
        <Cx>320.5</Cx>
        <Cy>240.5</Cy>
        <focalLength>320.000105</focalLength>
        <distortionK1>0.0</distortionK1>
        <distortionK2>0.0</distortionK2>
        <distortionK3>0.0</distortionK3>
        <distortionT1>0.0</distortionT1>
        <distortionT2>0.0</distortionT2>
      </plugin>
    </sensor>
    <turnGravityOff>true</turnGravityOff>
    <material>PR2/Blue</material>
  </gazebo>
  <gazebo reference="wide_stereo_link">
    <material value="PR2/Blue"/>
    <turnGravityOff value="true"/>
  </gazebo>
  <gazebo reference="wide_stereo_optical_frame">
    <material value="Gazebo/White"/>
    <turnGravityOff value="true"/>
  </gazebo> -->
  <!-- <joint name="narrow_stereo_frame_joint" type="fixed">
    <origin rpy="0.0   0.0   0.0" xyz="0.045 0.06 0.0501"/>
    <parent link="double_stereo_link"/>
    <child link="narrow_stereo_link"/>
  </joint>
  <link name="narrow_stereo_link">
    <inertial>
      <mass value="0.1"/>
      <origin rpy="0 0 0" xyz="0 0 0"/>
      <inertia ixx="0.01" ixy="0" ixz="0" iyy="0.01" iyz="0" izz="0.01"/>
    </inertial>
  </link>
  <joint name="narrow_stereo_optical_frame_joint" type="fixed">
    <origin rpy="-1.57079632679 0.0 -1.57079632679" xyz="0 0 0"/>
    <parent link="narrow_stereo_link"/>
    <child link="narrow_stereo_optical_frame"/>
  </joint>
  <link name="narrow_stereo_optical_frame" type="camera"/>
  <joint name="narrow_stereo_l_stereo_camera_frame_joint" type="fixed">
    <origin rpy="0 0 0" xyz="0 0 0"/>
    <parent link="narrow_stereo_link"/>
    <child link="narrow_stereo_l_stereo_camera_frame"/>
  </joint>
  <link name="narrow_stereo_l_stereo_camera_frame">
    <inertial>
      <mass value="0.01"/>
      <origin xyz="0 0 0"/>
      <inertia ixx="0.001" ixy="0.0" ixz="0.0" iyy="0.001" iyz="0.0" izz="0.001"/>
    </inertial>
  </link>
  <joint name="narrow_stereo_l_stereo_camera_optical_frame_joint" type="fixed">
    <origin rpy="-1.57079632679 0.0 -1.57079632679" xyz="0 0 0"/>
    <parent link="narrow_stereo_l_stereo_camera_frame"/>
    <child link="narrow_stereo_l_stereo_camera_optical_frame"/>
  </joint>
  <link name="narrow_stereo_l_stereo_camera_optical_frame"/> -->
  <!-- <gazebo reference="narrow_stereo_l_stereo_camera_frame">
    <sensor name="narrow_stereo_l_stereo_camera_sensor" type="camera">
      <always_on>true</always_on>
      <update_rate>25.0</update_rate>
      <camera>
        <horizontal_fov>0.785398163397</horizontal_fov>
        <image>
          <format>L8</format>
          <width>640</width>
          <height>480</height>
        </image>
        <clip>
          <near>0.1</near>
          <far>100</far>
        </clip>
      </camera>
      <plugin filename="libgazebo_ros_camera.so" name="narrow_stereo_l_stereo_camera_controller">
        <alwaysOn>true</alwaysOn>
        <updateRate>25.0</updateRate>
        <cameraName>narrow_stereo/left</cameraName>
        <imageTopicName>image_raw</imageTopicName>
        <cameraInfoTopicName>camera_info</cameraInfoTopicName>
        <frameName>narrow_stereo_optical_frame</frameName>
        <hackBaseline>0</hackBaseline>
        <CxPrime>320.5</CxPrime>
        <Cx>320.5</Cx>
        <Cy>240.5</Cy>
        <focalLength>772.548518</focalLength>
        <distortionK1>0.0</distortionK1>
        <distortionK2>0.0</distortionK2>
        <distortionK3>0.0</distortionK3>
        <distortionT1>0.0</distortionT1>
        <distortionT2>0.0</distortionT2>
      </plugin>
    </sensor>
    <turnGravityOff>true</turnGravityOff>
    <material>PR2/Blue</material>
  </gazebo> -->
  <!-- <joint name="narrow_stereo_r_stereo_camera_frame_joint" type="fixed">
    <origin rpy="0.0 0.0 0.0" xyz="0.0 -0.09 0.0"/>
    <parent link="narrow_stereo_l_stereo_camera_frame"/>
    <child link="narrow_stereo_r_stereo_camera_frame"/>
  </joint>
  <link name="narrow_stereo_r_stereo_camera_frame">
    <inertial>
      <mass value="0.01"/>
      <origin xyz="0 0 0"/>
      <inertia ixx="0.001" ixy="0.0" ixz="0.0" iyy="0.001" iyz="0.0" izz="0.001"/>
    </inertial>
  </link>
  <joint name="narrow_stereo_r_stereo_camera_optical_frame_joint" type="fixed">
    <origin rpy="-1.57079632679 0.0 -1.57079632679" xyz="0 0 0"/>
    <parent link="narrow_stereo_r_stereo_camera_frame"/>
    <child link="narrow_stereo_r_stereo_camera_optical_frame"/>
  </joint>
  <link name="narrow_stereo_r_stereo_camera_optical_frame"/> -->
  <!-- <gazebo reference="narrow_stereo_r_stereo_camera_frame">
    <sensor name="narrow_stereo_r_stereo_camera_sensor" type="camera">
      <always_on>true</always_on>
      <update_rate>25.0</update_rate>
      <camera>
        <horizontal_fov>0.785398163397</horizontal_fov>
        <image>
          <format>L8</format>
          <width>640</width>
          <height>480</height>
        </image>
        <clip>
          <near>0.1</near>
          <far>100</far>
        </clip>
      </camera>
      <plugin filename="libgazebo_ros_camera.so" name="narrow_stereo_r_stereo_camera_controller">
        <alwaysOn>true</alwaysOn>
        <updateRate>25.0</updateRate>
        <cameraName>narrow_stereo/right</cameraName>
        <imageTopicName>image_raw</imageTopicName>
        <cameraInfoTopicName>camera_info</cameraInfoTopicName>
        <frameName>narrow_stereo_optical_frame</frameName>
        <hackBaseline>0.09</hackBaseline>
        <CxPrime>320.5</CxPrime>
        <Cx>320.5</Cx>
        <Cy>240.5</Cy>
        <focalLength>772.548518</focalLength>
        <distortionK1>0.0</distortionK1>
        <distortionK2>0.0</distortionK2>
        <distortionK3>0.0</distortionK3>
        <distortionT1>0.0</distortionT1>
        <distortionT2>0.0</distortionT2>
      </plugin>
    </sensor>
    <turnGravityOff>true</turnGravityOff>
    <material>PR2/Blue</material>
  </gazebo>
  <gazebo reference="narrow_stereo_link">
    <material value="PR2/Blue"/>
    <turnGravityOff value="true"/>
  </gazebo>
  <gazebo reference="narrow_stereo_optical_frame">
    <material value="Gazebo/White"/>
    <turnGravityOff value="true"/>
  </gazebo>
  <gazebo reference="double_stereo_double_stereo_link">
    <material value="PR2/Blue"/>
  </gazebo>
  <gazebo reference="sensor_mount_sensor_link">
    <material value="PR2/Blue"/>
  </gazebo> -->
  <!-- <joint name="projector_wg6802418_frame_joint" type="fixed">
    <origin rpy="0 0 0" xyz="0 0.110 0.0546"/>
    <parent link="head_plate_frame"/>
    <child link="projector_wg6802418_frame"/>
  </joint>
  <link name="projector_wg6802418_frame">
    <inertial>
      <mass value="0.01"/>
      <origin rpy="0 0 0" xyz="0 0 0"/>
      <inertia ixx="0.001" ixy="0.0" ixz="0.0" iyy="0.001" iyz="0.0" izz="0.001"/>
    </inertial>
  </link>
  <joint name="projector_wg6802418_child_frame_joint" type="fixed">
    <origin rpy="0 -1.57079632679 0" xyz="0 0 0"/>
    <parent link="projector_wg6802418_frame"/>
    <child link="projector_wg6802418_child_frame"/>
  </joint>
  <link name="projector_wg6802418_child_frame">
    <inertial>
      <mass value="0.01"/>
      <origin rpy="0 0 0" xyz="0 0 0"/>
      <inertia ixx="0.001" ixy="0.0" ixz="0.0" iyy="0.001" iyz="0.0" izz="0.001"/>
    </inertial>
  </link> -->
  <!-- <gazebo reference="projector_wg6802418_child_frame">
    <projector name="projector_wg6802418_projector_wg6802418">
      <pose>0 0 0 0 -1.5707 0</pose>
      <texture>stereo_projection_pattern_high_res_red.png</texture>
      <fov>0.959931088597</fov>
      <near_clip>0.1</near_clip>
      <far_clip>10</far_clip>
    </projector>
  </gazebo>
  <gazebo>
    <plugin filename="libgazebo_ros_projector.so" name="projector_wg6802418_controller">
      <projector>projector_wg6802418_child_frame/projector_wg6802418_projector_wg6802418</projector>
      <alwaysOn>true</alwaysOn>
      <updateRate>15.0</updateRate>
      <textureName>stereo_projection_pattern_high_res_red.png</textureName>
      <filterTextureName>stereo_projection_pattern_filter.png</filterTextureName>
      <textureTopicName>projector_wg6802418_controller/image</textureTopicName>
      <projectorTopicName>projector_wg6802418_controller/projector</projectorTopicName>
    </plugin>
  </gazebo> -->
  <joint name="laser_tilt_mount_joint" type="revolute">
    <axis xyz="0 1 0"/>
    <limit effort="0.65" lower="-0.7854" upper="1.48353" velocity="10.0"/>
    <!-- alpha tested velocity and effort limits -->
    <safety_controller k_position="100" k_velocity="0.05" soft_lower_limit="-0.7354" soft_upper_limit="1.43353"/>
    <calibration falling="0.0"/>
    <dynamics damping="0.008"/>
    <origin rpy="0 0 0" xyz="0.09893 0 0.227"/>
    <parent link="torso_lift_link"/>
    <child link="laser_tilt_mount_link"/>
  </joint>
  <link name="laser_tilt_mount_link">
    <inertial>
      <mass value="0.591"/>
      <origin rpy="0 0 0" xyz="-0.001136 0.00167 -0.00713"/>
      <inertia ixx="0.001195273" ixy="0.000023087" ixz="0.000037467" iyy="0.001083956" iyz="0.000034906" izz="0.000795014"/>
    </inertial>
    <visual>
      <origin rpy="0 0 0" xyz="0 0 0"/>
      <geometry>
        <mesh filename="meshes_obj/tilting_laser_v0/tilting_hokuyo_L.obj"/>
      </geometry>
    </visual>
    <collision>
      <origin rpy="0 0 0" xyz="0 0 0"/>
      <geometry>
        <mesh filename="meshes_obj/tilting_laser_v0/tilting_hokuyo_L.obj"/>
      </geometry>
    </collision>
  </link>
  <!-- <joint name="laser_tilt_joint" type="fixed">
    <axis xyz="0 1 0"/>
    <origin rpy="0 0 0" xyz="0 0 0.03"/>
    <parent link="laser_tilt_mount_link"/>
    <child link="laser_tilt_link"/>
  </joint>
  <link name="laser_tilt_link" type="laser">
    <inertial>
      <mass value="0.001"/>
      <origin rpy="0 0 0" xyz="0 0 0"/>
      <inertia ixx="0.0001" ixy="0" ixz="0" iyy="0.000001" iyz="0" izz="0.0001"/>
    </inertial>
  </link> -->
  <!-- <gazebo reference="laser_tilt_link">
    <sensor name="laser_tilt" type="ray">
      <always_on>true</always_on>
      <update_rate>40</update_rate>
      <pose>0 0 0 0 0 0</pose>
      <visualize>false</visualize>
      <ray>
        <scan>
          <horizontal>
            <samples>640</samples>
            <resolution>1</resolution>
            <min_angle>-1.3962634</min_angle>
            <max_angle>1.3962634</max_angle>
          </horizontal>
        </scan>
        <range>
          <min>0.08</min>
          <max>10.0</max>
          <resolution>0.01</resolution>
        </range>
      </ray>
      <plugin filename="libgazebo_ros_laser.so" name="gazebo_ros_laser_tilt_controller">
        <gaussianNoise>0.005</gaussianNoise>
        <alwaysOn>true</alwaysOn>
        <updateRate>40</updateRate>
        <topicName>tilt_scan</topicName>
        <frameName>laser_tilt_link</frameName>
        <hokuyoMinIntensity>101</hokuyoMinIntensity>
      </plugin>
    </sensor>
  </gazebo>
  <gazebo reference="laser_tilt_mount_link">
    </gazebo> -->
  <transmission name="laser_tilt_mount_trans" type="pr2_mechanism_model/SimpleTransmission">
    <actuator name="laser_tilt_mount_motor"/>
    <joint name="laser_tilt_mount_joint"/>
    <mechanicalReduction>-6.05</mechanicalReduction>
  </transmission>
  <!-- Shoulder pan -->
  <joint name="r_shoulder_pan_joint" type="revolute">
    <axis xyz="0 0 1"/>
    <origin rpy="0 0 0" xyz="0.0 -0.188 0.0"/>
    <!-- transform from parent link to this joint frame -->
    <parent link="torso_lift_link"/>
    <child link="r_shoulder_pan_link"/>
    <limit effort="30" lower="-2.2853981634" upper="0.714601836603" velocity="2.088"/>
    <!-- alpha tested velocity and effort limits -->
    <dynamics damping="10.0"/>
    <safety_controller k_position="100" k_velocity="10" soft_lower_limit="-2.1353981634" soft_upper_limit="0.564601836603"/>
    <!-- joint angle when the rising or the falling flag is activated on PR2 -->
    <calibration rising="-0.785398163397"/>
  </joint>
  <link name="r_shoulder_pan_link">
    <inertial>
      <mass value="25.799322"/>
      <origin rpy="0 0 0" xyz="-0.001201 0.024513 -0.098231"/>
      <inertia ixx="0.866179142480" ixy="-0.06086507933" ixz="-0.12118061183" iyy="0.87421714893" iyz="-0.05886609911" izz="0.27353821674"/>
    </inertial>
    <visual>
      <origin rpy="0 0 0" xyz="0 0 0"/>
      <geometry>
        <mesh filename="meshes/shoulder_v0/shoulder_pan.dae"/>
      </geometry>
    </visual>
    <collision>
      <origin rpy="0 0 0" xyz="0.0 0 0.0"/>
      <geometry>
        <mesh filename="meshes_obj/shoulder_v0/shoulder_pan.obj"/>
      </geometry>
    </collision>
  </link>
  <!-- Shoulder lift -->
  <joint name="r_shoulder_lift_joint" type="revolute">
    <axis xyz="0 1 0"/>
    <!-- Limits updated from Function's CAD values as of 2009_02_24 (link_data.xls) -->
    <limit effort="30" lower="-0.5236" upper="1.3963" velocity="2.082"/>
    <!-- alpha tested velocity and effort limits -->
    <safety_controller k_position="100" k_velocity="10" soft_lower_limit="-0.3536" soft_upper_limit="1.2963"/>
    <calibration falling="0.0"/>
    <dynamics damping="10.0"/>
    <origin rpy="0 0 0" xyz="0.1 0 0"/>
    <parent link="r_shoulder_pan_link"/>
    <child link="r_shoulder_lift_link"/>
  </joint>
  <link name="r_shoulder_lift_link">
    <inertial>
      <mass value="2.74988"/>
      <origin rpy="0 0 0" xyz="0.02195 -0.02664 -0.03127"/>
      <inertia ixx="0.02105584615" ixy="0.00496704022" ixz="-0.00194808955" iyy="0.02127223737" iyz="0.00110425490" izz="0.01975753814"/>
    </inertial>
    <visual>
      <origin rpy="0 0 0" xyz="0 0 0"/>
      <geometry>
        <mesh filename="meshes/shoulder_v0/shoulder_lift.dae"/>
      </geometry>
    </visual>
    <collision>
      <origin rpy="0 0 0" xyz="0 0 0"/>
      <geometry>
        <mesh filename="meshes_obj/shoulder_v0/shoulder_lift.obj"/>
      </geometry>
    </collision>
  </link>
  <joint name="r_upper_arm_roll_joint" type="revolute">
    <axis xyz="1 0 0"/>
    <origin rpy="0 0 0" xyz="0 0 0"/>
    <parent link="r_shoulder_lift_link"/>
    <child link="r_upper_arm_roll_link"/>
    <limit effort="30" lower="-3.9" upper="0.8" velocity="3.27"/>
    <!-- alpha tested velocity and effort limits -->
    <safety_controller k_position="100" k_velocity="2" soft_lower_limit="-3.75" soft_upper_limit="0.65"/>
    <calibration rising="-1.57079632679"/>
    <dynamics damping="0.1"/>
  </joint>
  <link name="r_upper_arm_roll_link">
    <inertial>
      <!-- dummy mass, to be removed -->
      <mass value="0.1"/>
      <origin rpy="0 0 0" xyz="0.0 0 0"/>
      <inertia ixx="0.01" ixy="0.00" ixz="0.00" iyy="0.01" iyz="0.00" izz="0.01"/>
    </inertial>
    <visual>
      <!-- TODO: This component doesn't actually have a mesh -->
      <origin rpy="0 0 0" xyz="0 0 0"/>
      <geometry>
        <mesh filename="meshes_obj/shoulder_v0/upper_arm_roll.obj"/>
      </geometry>
    </visual>
    <collision>
      <origin rpy="0 0 0" xyz="0 0 0"/>
      <geometry>
        <mesh filename="meshes_obj/shoulder_v0/upper_arm_roll_L.obj"/>
      </geometry>
    </collision>
  </link>
  <!-- <gazebo reference="r_upper_arm_roll_link">
    <material value="PR2/RollLinks"/>
    <turnGravityOff>true</turnGravityOff>
  </gazebo>
  <gazebo reference="r_upper_arm_roll_joint">
    <stopKd value="1.0"/>
    <stopKp value="1000000.0"/>
    <fudgeFactor value="0.5"/>
  </gazebo>
  <transmission name="r_upper_arm_roll_trans" type="pr2_mechanism_model/SimpleTransmission">
    <actuator name="r_upper_arm_roll_motor"/>
    <joint name="r_upper_arm_roll_joint"/>
    <mechanicalReduction>32.6525111499</mechanicalReduction>
  </transmission>
  <gazebo reference="r_shoulder_pan_link">
    <turnGravityOff>true</turnGravityOff>
  </gazebo>
  <gazebo reference="r_shoulder_pan_joint">
    <stopKd value="1.0"/>
    <stopKp value="1000000.0"/>
  </gazebo>
  <gazebo reference="r_shoulder_lift_link">
    <turnGravityOff>true</turnGravityOff>
  </gazebo>
  <gazebo reference="r_shoulder_lift_joint">
    <stopKd value="1.0"/>
    <stopKp value="1000000.0"/>
  </gazebo> -->
  <!-- Shoulder pan -->
  <transmission name="r_shoulder_pan_trans" type="pr2_mechanism_model/SimpleTransmission">
    <joint name="r_shoulder_pan_joint"/>
    <actuator name="r_shoulder_pan_motor"/>
    <mechanicalReduction>63.1552452977</mechanicalReduction>
    <compensator k_belt="4000.0" kd_motor="15.0" lambda_combined="0.0" lambda_joint="40.0" lambda_motor="40.0" mass_motor="0.05"/>
  </transmission>
  <!-- Shoulder lift -->
  <transmission name="r_shoulder_lift_trans" type="pr2_mechanism_model/SimpleTransmission">
    <joint name="r_shoulder_lift_joint"/>
    <actuator name="r_shoulder_lift_motor"/>
    <mechanicalReduction>61.8948225713</mechanicalReduction>
    <compensator k_belt="4000.0" kd_motor="10.0" lambda_combined="0.0" lambda_joint="60.0" lambda_motor="60.0" mass_motor="0.05"/>
  </transmission>
  <joint name="r_upper_arm_joint" type="fixed">
    <origin rpy="0 0 0" xyz="0 0 0"/>
    <parent link="r_upper_arm_roll_link"/>
    <child link="r_upper_arm_link"/>
  </joint>
  <link name="r_upper_arm_link">
    <inertial>
      <!-- NOTE:reflect==-1 for right side, reflect==1 for the left side -->
      <mass value="6.01769"/>
      <origin xyz="0.21398 -0.01621 -0.0002"/>
      <inertia ixx="0.01537748957" ixy="0.00375711247" ixz="-0.00070852914" iyy="0.0747367044" iyz="-0.0001793645" izz="0.07608763307"/>
    </inertial>
    <visual>
      <origin rpy="0 0 0" xyz="0 0 0"/>
      <geometry>
        <mesh filename="meshes/upper_arm_v0/upper_arm.dae"/>
      </geometry>
    </visual>
    <collision>
      <origin rpy="0 0 0" xyz="0 0 0"/>
      <geometry>
        <mesh filename="meshes_obj/upper_arm_v0/upper_arm.obj"/>
      </geometry>
    </collision>
  </link>
  <!-- <gazebo reference="r_upper_arm_link">
    <turnGravityOff>true</turnGravityOff>
  </gazebo> -->
  <!-- Has upperarm link -->
  <!-- No transmission, since this a fixed joint w/o actuator -->
  <!-- forearm_roll_link is a fictitious link internal to elbow_flex_link, provides an attachment point for the actual forearm -->
  <joint name="r_forearm_roll_joint" type="continuous">
    <axis xyz="1 0 0"/>
    <limit effort="30" velocity="3.6"/>
    <!-- alpha tested velocity and effort limits -->
    <safety_controller k_velocity="1"/>
    <calibration rising="0.0"/>
    <dynamics damping="0.1"/>
    <origin rpy="0 0 0" xyz="0 0 0"/>
    <parent link="r_elbow_flex_link"/>
    <child link="r_forearm_roll_link"/>
  </joint>
  <!-- TODO: inertial tag should be optional -->
  <link name="r_forearm_roll_link">
    <inertial>
      <!-- dummy masses, to be removed -->
      <mass value="0.1"/>
      <origin xyz="0 0 0"/>
      <inertia ixx="0.01" ixy="0.00" ixz="0.00" iyy="0.01" iyz="0.00" izz="0.01"/>
    </inertial>
    <visual>
      <origin rpy="0 0 0" xyz="0 0 0"/>
      <geometry>
        <mesh filename="meshes_obj/upper_arm_v0/forearm_roll.obj"/>
      </geometry>
    </visual>
    <!-- TODO: collision tag should be optional -->
    <collision>
      <origin rpy="0 0 0" xyz="0 0 0"/>
      <geometry>
        <mesh filename="meshes_obj/upper_arm_v0/forearm_roll_L.obj"/>
      </geometry>
    </collision>
  </link>
  <!-- <gazebo reference="r_forearm_roll_link">
    <material value="PR2/RollLinks"/>
    <turnGravityOff>true</turnGravityOff>
  </gazebo>
  <gazebo reference="r_forearm_roll_joint">
    <fudgeFactor value="0.5"/>
  </gazebo> -->
  <transmission name="r_forearm_roll_trans" type="pr2_mechanism_model/SimpleTransmission">
    <actuator name="r_forearm_roll_motor"/>
    <joint name="r_forearm_roll_joint"/>
    <mechanicalReduction>-90.5142857143</mechanicalReduction>
  </transmission>
  <!-- Elbow flex -->
  <joint name="r_elbow_flex_joint" type="revolute">
    <axis xyz="0 1 0"/>
    <!-- Note: Overtravel limits are 140, -7 degrees instead of 133, 0 -->
    <limit effort="30" lower="-2.3213" upper="0.00" velocity="3.3"/>
    <!-- alpha tested velocity and effort limits -->
    <safety_controller k_position="100" k_velocity="3" soft_lower_limit="-2.1213" soft_upper_limit="-0.15"/>
    <calibration falling="-1.1606"/>
    <dynamics damping="1.0"/>
    <origin rpy="0 0 0" xyz="0.4 0 0"/>
    <parent link="r_upper_arm_link"/>
    <child link="r_elbow_flex_link"/>
  </joint>
  <link name="r_elbow_flex_link">
    <inertial>
      <mass value="1.90327"/>
      <origin xyz="0.01014 0.00032 -0.01211"/>
      <inertia ixx="0.00346541989" ixy="0.00004066825" ixz="0.00043171614" iyy="0.00441606455" iyz="-0.00003968914" izz="0.00359156824"/>
    </inertial>
    <visual>
      <origin rpy="0 0 0" xyz="0 0 0"/>
      <geometry>
        <mesh filename="meshes/upper_arm_v0/elbow_flex.dae"/>
      </geometry>
    </visual>
    <collision>
      <origin rpy="0 0 0" xyz="0 0 0"/>
      <geometry>
        <mesh filename="meshes_obj/upper_arm_v0/elbow_flex.obj"/>
      </geometry>
    </collision>
  </link>
  <!-- testing initial joint position, to be parsed at urdf2gazebo parse time ->
    <gazebo reference="${side}_elbow_flex_joint">
      <initial_joint_position>-1.0</initial_joint_position>
    </gazebo>
    -->
  <!-- <gazebo reference="r_elbow_flex_link">
    <turnGravityOff>true</turnGravityOff>
  </gazebo>
  <gazebo reference="r_elbow_flex_joint">
    <stopKd value="1.0"/>
    <stopKp value="1000000.0"/>
  </gazebo> -->
  <!-- Elbow flex -->
  <transmission name="r_elbow_flex_trans" type="pr2_mechanism_model/SimpleTransmission">
    <actuator name="r_elbow_flex_motor"/>
    <joint name="r_elbow_flex_joint"/>
    <mechanicalReduction>-36.167452007</mechanicalReduction>
  </transmission>
  <joint name="r_forearm_joint" type="fixed">
    <origin rpy="0 0 0" xyz="0 0 0"/>
    <!-- transform from parent link to this joint frame -->
    <parent link="r_forearm_roll_link"/>
    <child link="r_forearm_link"/>
  </joint>
  <link name="r_forearm_link">
    <inertial>
      <mass value="2.57968"/>
      <origin xyz="0.18791 -0.00017 -0.00912"/>
      <inertia ixx="0.00364857222" ixy="0.00005215877" ixz="0.00071534842" iyy="0.01507736897" iyz="-0.00001310770" izz="0.01659310749"/>
    </inertial>
    <visual>
      <origin rpy="0 0 0" xyz="0 0 0"/>
      <geometry>
        <mesh filename="meshes/forearm_v0/forearm.dae"/>
      </geometry>
    </visual>
    <collision>
      <origin rpy="0 0 0" xyz="0 0 0"/>
      <geometry>
        <mesh filename="meshes_obj/forearm_v0/forearm.obj"/>
      </geometry>
    </collision>
  </link>
  <!-- Wrist flex -->
  <joint name="r_wrist_flex_joint" type="revolute">
    <axis xyz="0 1 0"/>
    <limit effort="10" lower="-2.18" upper="0.0" velocity="3.078"/>
    <!-- alpha tested velocity and effort limits -->
    <safety_controller k_position="20" k_velocity="4" soft_lower_limit="-2.0" soft_upper_limit="-0.1"/>
    <dynamics damping="0.1"/>
    <calibration falling="-0.5410521"/>
    <origin rpy="0 0 0" xyz="0.321 0 0"/>
    <parent link="r_forearm_link"/>
    <child link="r_wrist_flex_link"/>
  </joint>
  <link name="r_wrist_flex_link">
    <inertial>
      <mass value="0.61402"/>
      <origin xyz="-0.00157 0.0 -0.00075"/>
      <inertia ixx="0.00065165722" ixy="0.00000028864" ixz="0.00000303477" iyy="0.00019824443" iyz="-0.00000022645" izz="0.00064450498"/>
    </inertial>
    <visual>
      <origin rpy="0 0 0" xyz="0 0 0"/>
      <geometry>
        <mesh filename="meshes/forearm_v0/wrist_flex.dae"/>
      </geometry>
    </visual>
    <collision>
      <origin rpy="0 0 0" xyz="0 0 0"/>
      <geometry>
        <mesh filename="meshes_obj/forearm_v0/wrist_flex.obj"/>
      </geometry>
    </collision>
  </link>
  <!-- Wrist roll -->
  <joint name="r_wrist_roll_joint" type="continuous">
    <axis xyz="1 0 0"/>
    <limit effort="10" velocity="3.6"/>
    <!-- alpha tested velocity and effort limits -->
    <safety_controller k_velocity="2"/>
    <dynamics damping="0.1"/>
    <calibration rising="-1.57079632679"/>
    <origin rpy="0 0 0" xyz="0 0 0"/>
    <parent link="r_wrist_flex_link"/>
    <child link="r_wrist_roll_link"/>
  </joint>
  <link name="r_wrist_roll_link">
    <inertial>
      <!-- dummy masses, to be removed.  wrist roll masses are on "gripper_palm" -->
      <mass value="0.1"/>
      <origin xyz="0 0 0"/>
      <inertia ixx="0.01" ixy="0" ixz="0" iyy="0.01" iyz="0" izz="0.01"/>
    </inertial>
    <visual>
      <origin rpy="0 0 0" xyz="0 0 0"/>
      <geometry>
        <mesh filename="meshes_obj/forearm_v0/wrist_roll.obj"/>
      </geometry>
    </visual>
    <collision>
      <origin rpy="0 0 0" xyz="0 0 0"/>
      <geometry>
        <mesh filename="meshes_obj/forearm_v0/wrist_roll_L.obj"/>
      </geometry>
    </collision>
  </link>
  <!-- <gazebo reference="r_forearm_link">
    <turnGravityOff>true</turnGravityOff>
  </gazebo>
  <gazebo reference="r_wrist_flex_link">
    <turnGravityOff>true</turnGravityOff>
  </gazebo>
  <gazebo reference="r_wrist_flex_joint">
    <stopKd value="1.0"/>
    <stopKp value="1000000.0"/>
  </gazebo>
  <gazebo reference="r_wrist_roll_link">
    <turnGravityOff>true</turnGravityOff>
    <material value="PR2/RollLinks"/>
  </gazebo>
  <gazebo reference="r_wrist_roll_joint">
    <fudgeFactor value="0.5"/>
  </gazebo> -->
  <!-- Wrist flex , Wrist roll -->
  <transmission name="r_wrist_trans" type="pr2_mechanism_model/WristTransmission">
    <rightActuator mechanicalReduction="60.1714285714" name="r_wrist_r_motor"/>
    <leftActuator mechanicalReduction="60.1714285714" name="r_wrist_l_motor"/>
    <flexJoint mechanicalReduction="-1.0" name="r_wrist_flex_joint"/>
    <rollJoint mechanicalReduction="1.0" name="r_wrist_roll_joint"/>
  </transmission>
  <joint name="r_gripper_palm_joint" type="fixed">
    <origin rpy="0 0 0" xyz="0 0 0"/>
    <parent link="r_wrist_roll_link"/>
    <child link="r_gripper_palm_link"/>
  </joint>
  <link name="r_gripper_palm_link">
    <inertial>
      <mass value="0.58007"/>
      <origin rpy="0 0 0" xyz="0.06623 0.00053 -0.00119"/>
      <inertia ixx="0.00035223921" ixy="-0.00001580476" ixz="-0.00000091750" iyy="0.00067741312" iyz="-0.00000059554" izz="0.00086563316"/>
    </inertial>
    <visual>
      <origin rpy="0 0 0" xyz="0 0 0"/>
      <geometry>
        <mesh filename="meshes/gripper_v0/gripper_palm.dae"/>
      </geometry>
    </visual>
    <collision>
      <origin rpy="0 0 0" xyz="0 0 0"/>
      <geometry>
        <mesh filename="meshes_obj/gripper_v0/gripper_palm.obj"/>
      </geometry>
    </collision>
  </link>
  <!-- <joint name="r_gripper_led_joint" type="fixed">
    <origin xyz="0.0513 0.0 .0244"/>
    <parent link="r_gripper_palm_link"/>
    <child link="r_gripper_led_frame"/>
  </joint>
  <link name="r_gripper_led_frame"/> -->
  <joint name="r_gripper_motor_accelerometer_joint" type="fixed">
    <origin rpy="0 0 0" xyz="0 0 0"/>
    <parent link="r_gripper_palm_link"/>
    <child link="r_gripper_motor_accelerometer_link"/>
  </joint>
  <link name="r_gripper_motor_accelerometer_link">
    <inertial>
      <mass value="0.001"/>
      <origin rpy="0 0 0" xyz="0 0 0"/>
      <inertia ixx="0.001" ixy="0.0" ixz="0.0" iyy="0.001" iyz="0.0" izz="0.001"/>
    </inertial>
    <visual>
      <origin rpy="0 0 0" xyz="0 0 0"/>
      <geometry>
        <box size="0.001 0.001 0.001"/>
      </geometry>
    </visual>
    <collision>
      <origin rpy="0 0 0" xyz="0 0 0"/>
      <geometry>
        <box size="0.001 0.001 0.001"/>
      </geometry>
    </collision>
  </link>
  <!-- <joint name="r_gripper_tool_joint" type="fixed">
    <origin rpy="0 0 0" xyz="0.18 0 0"/>
    <parent link="r_gripper_palm_link"/>
    <child link="r_gripper_tool_frame"/>
  </joint>
  <link name="r_gripper_tool_frame"/>
  <link name="r_gripper_motor_slider_link">
    <inertial>
      <mass value="0.01"/>
      <origin rpy="0 0 0" xyz="0 0 0"/>
      <inertia ixx="0.001" ixy="0.0" ixz="0.0" iyy="0.001" iyz="0.0" izz="0.001"/>
    </inertial>
  </link> -->
  <!-- <joint name="r_gripper_motor_slider_joint" type="prismatic">
    <origin rpy="0 0 0" xyz="0.16828 0 0"/>
    <axis xyz="1 0 0"/>
    <parent link="r_gripper_palm_link"/>
    <child link="r_gripper_motor_slider_link"/>
    <limit effort="1000.0" lower="-0.1" upper="0.1" velocity="0.2"/>
  </joint>
  <link name="r_gripper_motor_screw_link">
    <inertial>
      <mass value="0.01"/>
      <origin rpy="0 0 0" xyz="0 0 0"/>
      <inertia ixx="0.0001" ixy="0.0" ixz="0.0" iyy="0.0001" iyz="0.0" izz="0.0001"/>
    </inertial>
  </link>
  <joint name="r_gripper_motor_screw_joint" type="continuous">
    <origin rpy="0 0 0" xyz="0.0 0 0"/>
    <axis xyz="0 1 0"/>
    <parent link="r_gripper_motor_slider_link"/>
    <child link="r_gripper_motor_screw_link"/>
    <dynamics damping="0.0001"/>
  </joint> -->
  <!-- Finger proximal digit -->
  <joint name="r_gripper_l_finger_joint" type="revolute">
    <axis xyz="0 0 1"/>
    <!-- limits on passive finger and finger top joints without
         transmission are not enforced by safety controllers.
         The lower/upper limits and are enforced in PR2 simulation and
         effort and velocity limits are ignored. This is also needed because
         these joints are declared revolute rather than continuous.-->
    <limit effort="1000.0" lower="0.0" upper="0.548" velocity="0.5"/>
    <dynamics damping="0.02"/>
    <origin rpy="0 0 0" xyz="0.07691 0.01 0"/>
    <parent link="r_gripper_palm_link"/>
    <child link="r_gripper_l_finger_link"/>
  </joint>
  <link name="r_gripper_l_finger_link">
    <inertial>
      <mass value="0.17126"/>
      <origin rpy="0 0 0" xyz="0.03598 0.01730 -0.00164"/>
      <inertia ixx="0.00007756198" ixy="0.00000149095" ixz="-0.00000983385" iyy="0.00019708305" iyz="-0.00000306125" izz="0.00018105446"/>
    </inertial>
    <visual>
      <origin rpy="0 0 0" xyz="0 0 0"/>
      <geometry>
        <mesh filename="meshes/gripper_v0/l_finger.dae"/>
      </geometry>
    </visual>
    <collision>
      <origin rpy="0 0 0" xyz="0 0 0"/>
      <geometry>
        <mesh filename="meshes_obj/gripper_v0/l_finger.obj"/>
      </geometry>
    </collision>
  </link>
  <!-- Finger proximal digit -->
  <joint name="r_gripper_r_finger_joint" type="revolute">
    <axis xyz="0 0 -1"/>
    <origin rpy="0 0 0" xyz="0.07691 -0.01 0"/>
    <!-- limits on passive finger and finger top joints without
         transmission are not enforced by safety controllers.
         The lower/upper limits and are enforced in PR2 simulation and
         effort and velocity limits are ignored. This is also needed because
         these joints are declared revolute rather than continuous.-->
    <limit effort="1000.0" lower="0.0" upper="0.548" velocity="0.5"/>
    <dynamics damping="0.02"/>
    <mimic joint="r_gripper_l_finger_joint" multiplier="1" offset="0"/>
    <parent link="r_gripper_palm_link"/>
    <child link="r_gripper_r_finger_link"/>
  </joint>
  <link name="r_gripper_r_finger_link">
    <inertial>
      <mass value="0.17389"/>
      <origin rpy="0 0 0" xyz="0.03576 -0.01736 -0.00095"/>
      <inertia ixx="0.00007738410" ixy="-0.00000209309" ixz="-0.00000836228" iyy="0.00019847383" iyz="0.00000246110" izz="0.00018106988"/>
    </inertial>
    <visual>
      <origin rpy="3.14159265359 0 0" xyz="0 0 0"/>
      <geometry>
        <mesh filename="meshes/gripper_v0/l_finger.dae"/>
      </geometry>
    </visual>
    <collision>
      <origin rpy="3.14159265359 0 0" xyz="0 0 0"/>
      <geometry>
        <mesh filename="meshes_obj/gripper_v0/l_finger.obj"/>
      </geometry>
    </collision>
  </link>
  <!-- Finger tip -->
  <joint name="r_gripper_l_finger_tip_joint" type="revolute">
    <axis xyz="0 0 -1"/>
    <origin rpy="0 0 0" xyz="0.09137 0.00495 0"/>
    <!-- limits on passive finger and finger top joints without
         transmission are not enforced by safety controllers.
         The lower/upper limits and are enforced in PR2 simulation and
         effort and velocity limits are ignored. This is also needed because
         these joints are declared revolute rather than continuous.-->
    <limit effort="1000.0" lower="0.0" upper="0.548" velocity="0.5"/>
    <dynamics damping="0.001"/>
    <mimic joint="r_gripper_l_finger_joint" multiplier="1" offset="0"/>
    <parent link="r_gripper_l_finger_link"/>
    <child link="r_gripper_l_finger_tip_link"/>
  </joint>
  <link name="r_gripper_l_finger_tip_link">
    <inertial>
      <mass value="0.04419"/>
      <origin rpy="0 0 0" xyz="0.00423 0.00284 0.0"/>
      <inertia ixx="0.00000837047" ixy="0.00000583632" ixz="0.0" iyy="0.00000987067" iyz="0.0" izz="0.00001541768"/>
    </inertial>
    <visual>
      <origin rpy="0 0 0" xyz="0 0 0"/>
      <geometry>
        <mesh filename="meshes/gripper_v0/l_finger_tip.dae"/>
      </geometry>
    </visual>
    <collision>
      <origin rpy="0 0 0" xyz="0 0 0"/>
      <geometry>
        <mesh filename="meshes_obj/gripper_v0/l_finger_tip.obj"/>
      </geometry>
    </collision>
  </link>
  <!-- Finger tip -->
  <joint name="r_gripper_r_finger_tip_joint" type="revolute">
    <axis xyz="0 0 1"/>
    <origin rpy="0 0 0" xyz="0.09137 -0.00495 0"/>
    <!-- limits on passive finger and finger top joints without
         transmission are not enforced by safety controllers.
         The lower/upper limits and are enforced in PR2 simulation and
         effort and velocity limits are ignored. This is also needed because
         these joints are declared revolute rather than continuous.-->
    <limit effort="1000.0" lower="0.0" upper="0.548" velocity="0.5"/>
    <dynamics damping="0.001"/>
    <mimic joint="r_gripper_l_finger_joint" multiplier="1" offset="0"/>
    <parent link="r_gripper_r_finger_link"/>
    <child link="r_gripper_r_finger_tip_link"/>
  </joint>
  <link name="r_gripper_r_finger_tip_link">
    <inertial>
      <mass value="0.04419"/>
      <origin rpy="0 0 0" xyz="0.00423 -0.00284 0.0"/>
      <inertia ixx="0.00000837047" ixy="-0.00000583632" ixz="0.0" iyy="0.00000987067" iyz="0.0" izz="0.00001541768"/>
    </inertial>
    <visual>
      <origin rpy="3.14159265359 0 0" xyz="0 0 0"/>
      <geometry>
        <mesh filename="meshes/gripper_v0/l_finger_tip.dae"/>
      </geometry>
    </visual>
    <collision>
      <origin rpy="3.14159265359 0 0" xyz="0 0 0"/>
      <geometry>
        <mesh filename="meshes_obj/gripper_v0/l_finger_tip.obj"/>
      </geometry>
    </collision>
  </link>
  <!-- Finger proximal digit -->
  <!-- <gazebo reference="r_gripper_l_finger_link">
    <turnGravityOff>true</turnGravityOff>
    <mu1 value="500.0"/>
    <mu2 value="500.0"/>
    <kp value="1000000.0"/>
    <kd value="1.0"/>
  </gazebo>
  <gazebo reference="r_gripper_l_finger_joint">
    <stopKd value="1.0"/>
    <stopKp value="10000000.0"/>
    <fudgeFactor value="1.0"/>
    <provideFeedback value="true"/>
  </gazebo>
  <gazebo reference="r_gripper_r_finger_link">
    <turnGravityOff>true</turnGravityOff>
    <mu1 value="500.0"/>
    <mu2 value="500.0"/>
    <kp value="1000000.0"/>
    <kd value="1.0"/>
  </gazebo>
  <gazebo reference="r_gripper_r_finger_joint">
    <stopKd value="1.0"/>
    <stopKp value="10000000.0"/>
    <fudgeFactor value="1.0"/>
    <provideFeedback value="true"/>
  </gazebo> -->
  <!-- Finger tip -->
  <!-- <gazebo reference="r_gripper_l_finger_tip_link">
    <turnGravityOff>true</turnGravityOff>
    <selfCollide>false</selfCollide>
    <sensor name="r_gripper_l_finger_tip_contact_sensor" type="contact">
      <update_rate>100.0</update_rate>
      <contact>
        <collision>r_gripper_l_finger_tip_link_collision</collision>
      </contact>
      <plugin filename="libgazebo_ros_bumper.so" name="r_gripper_l_finger_tip_gazebo_ros_bumper_controller">
        <alwaysOn>true</alwaysOn>
        <frameName>r_gripper_l_finger_tip_link</frameName>
        <updateRate>100.0</updateRate>
        <bumperTopicName>r_gripper_l_finger_tip_bumper</bumperTopicName>
      </plugin>
    </sensor>
    <mu1 value="500.0"/>
    <mu2 value="500.0"/>
    <kp value="10000000.0"/>
    <kd value="1.0"/>
  </gazebo>
  <gazebo reference="r_gripper_l_finger_tip_joint">
    <stopKd value="1.0"/>
    <stopKp value="10000000.0"/>
    <fudgeFactor value="1.0"/>
    <provideFeedback value="true"/>
  </gazebo> -->
  <!-- Finger tip -->
  <!-- <gazebo reference="r_gripper_r_finger_tip_link">
    <turnGravityOff>true</turnGravityOff>
    <selfCollide>false</selfCollide>
    <sensor name="r_gripper_r_finger_tip_contact_sensor" type="contact">
      <update_rate>100.0</update_rate>
      <contact>
        <collision>r_gripper_r_finger_tip_link_collision</collision>
      </contact>
      <plugin filename="libgazebo_ros_bumper.so" name="r_gripper_r_finger_tip_gazebo_ros_bumper_controller">
        <alwaysOn>true</alwaysOn>
        <frameName>r_gripper_r_finger_tip_link</frameName>
        <updateRate>100.0</updateRate>
        <bumperTopicName>r_gripper_r_finger_tip_bumper</bumperTopicName>
      </plugin>
    </sensor>
    <mu1 value="500.0"/>
    <mu2 value="500.0"/>
    <kp value="10000000.0"/>
    <kd value="1.0"/>
  </gazebo>
  <gazebo>
    <plugin filename="libgazebo_ros_p3d.so" name="p3d_r_gripper_l_finger_controller">
      <alwaysOn>true</alwaysOn>
      <updateRate>100.0</updateRate>
      <bodyName>r_gripper_l_finger_link</bodyName>
      <topicName>r_gripper_l_finger_pose_ground_truth</topicName>
      <gaussianNoise>0.0</gaussianNoise>
      <frameName>base_link</frameName>
    </plugin>
    <plugin filename="libgazebo_ros_f3d.so" name="f3d_r_gripper_l_finger_controller">
      <alwaysOn>true</alwaysOn>
      <updateRate>100.0</updateRate>
      <bodyName>r_gripper_l_finger_link</bodyName>
      <topicName>r_gripper_l_finger_force_ground_truth</topicName>
    </plugin>
  </gazebo>
  <gazebo reference="r_gripper_r_finger_tip_joint">
    <stopKd value="1.0"/>
    <stopKp value="10000000.0"/>
    <fudgeFactor value="1.0"/>
    <provideFeedback value="true"/>
  </gazebo> -->
  <!-- parallel link for simulating gripper constraints -->
  <!-- <gazebo>
    <link name="r_gripper_l_parallel_link">
      <inertial>
        <mass>0.17126</mass>
        <inertia>
          <ixx>7.7562e-05</ixx>
          <ixy>1.49095e-06</ixy>
          <ixz>-9.83385e-06</ixz>
          <iyy>0.000197083</iyy>
          <iyz>-3.06125e-06</iyz>
          <izz>0.000181054</izz>
        </inertia>
        <pose>0.03598 0.0173 -0.00164 0 0 0</pose>
      </inertial>
      <pose>0.82991 -0.157 0.790675 0 -0 0</pose>
      <gravity>false</gravity>
    </link>
    <link name="r_gripper_r_parallel_link">
      <inertial>
        <mass>0.17389</mass>
        <inertia>
          <ixx>7.73841e-05</ixx>
          <ixy>-2.09309e-06</ixy>
          <ixz>-8.36228e-06</ixz>
          <iyy>0.000198474</iyy>
          <iyz>2.4611e-06</iyz>
          <izz>0.00018107</izz>
        </inertia>
        <pose>0.03576 -0.01736 -0.00095 0 0 0</pose>
      </inertial>
      <pose>0.82991 -0.219 0.790675 0 0 0</pose>
      <gravity>false</gravity>
    </link>
  </gazebo>
  <gazebo>
    <joint name="r_gripper_r_screw_screw_joint" type="screw">
      <child>r_gripper_motor_screw_link</child>
      <parent>r_gripper_r_finger_tip_link</parent>
      <thread_pitch>-3141.6</thread_pitch>
      <axis>
        <xyz>0 1 0</xyz>
      </axis>
    </joint>
    <joint name="r_gripper_l_screw_screw_joint" type="screw">
      <parent>r_gripper_l_finger_tip_link</parent>
      <child>r_gripper_motor_screw_link</child>
      <thread_pitch>3141.6</thread_pitch>
      <axis>
        <xyz>0 1 0</xyz>
      </axis>
    </joint>
  </gazebo>
  <gazebo>
    <joint name="r_gripper_r_parallel_root_joint" type="revolute">
      <parent>r_gripper_r_parallel_link</parent>
      <child>r_gripper_palm_link</child>
      <axis>
        <xyz>0 0 -1</xyz>
        <dynamics>
          <damping>0.2</damping>
        </dynamics>
      </axis>
      <pose>0.05891 -0.031 0 0 0 0</pose>
    </joint>
    <joint name="r_gripper_l_parallel_root_joint" type="revolute">
      <parent>r_gripper_l_parallel_link</parent>
      <child>r_gripper_palm_link</child>
      <axis>
        <xyz>0 0 1</xyz>
        <dynamics>
          <damping>0.2</damping>
        </dynamics>
      </axis>
      <pose>0.05891 0.031 0 0 0 0</pose>
    </joint>
    <joint name="r_gripper_r_parallel_tip_joint" type="revolute">
      <parent>r_gripper_r_parallel_link</parent>
      <child>r_gripper_r_finger_tip_link</child>
      <axis>
        <xyz>0 0 1</xyz>
      </axis>
      <pose>-0.018 -0.021 0 0 0 0</pose>
    </joint>
    <joint name="r_gripper_l_parallel_tip_joint" type="revolute">
      <parent>r_gripper_l_parallel_link</parent>
      <child>r_gripper_l_finger_tip_link</child>
      <axis>
        <xyz>0 0 1</xyz>
      </axis>
      <pose>-0.018 0.021 0 0 0 0</pose>
    </joint>
    <joint name="r_gripper_joint" type="prismatic">
      <parent>r_gripper_r_finger_tip_link</parent>
      <child>r_gripper_l_finger_tip_link</child>
      <axis>
        <xyz>0 1 0</xyz>
      </axis>
    </joint>
  </gazebo>
  <gazebo reference="r_gripper_motor_slider_link">
    <turnGravityOff>true</turnGravityOff>
    <material value="PR2/Red"/>
  </gazebo>
  <gazebo reference="r_gripper_motor_screw_link">
    <turnGravityOff>true</turnGravityOff>
    <material value="PR2/Red"/>
  </gazebo>
  <gazebo reference="r_gripper_l_parallel_link">
    <turnGravityOff>true</turnGravityOff>
    <material value="PR2/Red"/>
  </gazebo>
  <gazebo reference="r_gripper_r_parallel_link">
    <turnGravityOff>true</turnGravityOff>
    <material value="PR2/Red"/>
  </gazebo> -->
  <!-- fictitous joint that represents the gripper gap -->
  <!-- effort is the linear force at the gripper gap
         velocity limit is the linear velocity limit at the gripper gap
         try and introduce a very stiff spring
         The velocity limits are alpha tested.
         The effort limits are somewhat inflated.
         k_velocity was recently raised from 500.0 to 5000.0.  Tested on beta
    -->
  <!-- <joint name="r_gripper_joint" type="prismatic">
    <parent link="r_gripper_r_finger_tip_link"/>
    <child link="r_gripper_l_finger_tip_frame"/>
    <axis xyz="0 1 0"/>
    <dynamics damping="10.0"/>
    <limit effort="1000.0" lower="0.0" upper="0.09" velocity="0.2"/>
    <safety_controller k_position="20.0" k_velocity="5000.0" soft_lower_limit="-0.01" soft_upper_limit="0.088"/>
  </joint> -->
  <!-- This link is the same as the l_finger_tip_link,
	 but because the urdf does not support graph structures,
	 this link exists twice -->
  <!-- <link name="r_gripper_l_finger_tip_frame"/> -->
  <!-- <gazebo reference="r_gripper_palm_link">
    <turnGravityOff>true</turnGravityOff>
  </gazebo>
  <gazebo>
    <plugin filename="libgazebo_ros_p3d.so" name="p3d_r_gripper_palm_controller">
      <alwaysOn>true</alwaysOn>
      <updateRate>100.0</updateRate>
      <bodyName>r_gripper_palm_link</bodyName>
      <topicName>r_gripper_palm_pose_ground_truth</topicName>
      <xyzOffsets>0 0 0</xyzOffsets>
      <rpyOffsets>0 0 0</rpyOffsets>
      <gaussianNoise>0.0</gaussianNoise>
      <frameName>map</frameName>
    </plugin>
    <gripper name="r_grasp_hack">
      <grasp_check>
        <attach_steps>20</attach_steps>
        <detach_steps>40</detach_steps>
        <min_contact_count>2</min_contact_count>
      </grasp_check>
      <gripper_link>r_gripper_r_finger_tip_link</gripper_link>
      <gripper_link>r_gripper_l_finger_tip_link</gripper_link>
      <palm_link>r_gripper_palm_link</palm_link>
    </gripper>
  </gazebo> -->
  <!-- [lr]_gripper_joint is a fictitious joint, used by transmission for controller gap   -->
  <!-- [lr]_gripper_joint is not attached to any link                                      -->
  <!-- [lr]_gripper_joint position is the gap_size                                         -->
  <!-- [lr]_gripper_joint velocity is the gap linear velocity                              -->
  <!-- [lr]_gripper_joint effort   is the gap linear force                                 -->
  <!-- Please refer to function engineering spreadsheet 090224_link_data.xls for           -->
  <!-- the transmission function.                                                          -->
  <!-- Please refer to mechanism_model/src/pr2_gripper_transmission.cpp for implementation.-->
  <!-- gazebo_mimic_pid is for sim only.                                                   -->
  <transmission name="r_gripper_trans" type="pr2_mechanism_model/PR2GripperTransmission">
    <actuator name="r_gripper_motor"/>
    <gap_joint L0="0.0375528" a="0.0683698" b="0.0433849" gear_ratio="40.095" h="0.0" mechanical_reduction="1.0" name="r_gripper_joint" phi0="0.518518122146" r="0.0915" screw_reduction="0.004" t0="-0.0001914" theta0="0.0628824676201"/>
    <!-- if a gazebo joint exists as [l|r]_gripper_joint, use this tag to have
           gripper transmission apply torque directly to prismatic joint
           this should be the default behavior in diamondback, deprecating this flag -->
    <use_simulated_gripper_joint/>
    <!-- set passive joint angles so things look nice in rviz -->
    <passive_joint name="r_gripper_l_finger_joint"/>
    <passive_joint name="r_gripper_r_finger_joint"/>
    <passive_joint name="r_gripper_r_finger_tip_joint"/>
    <passive_joint name="r_gripper_l_finger_tip_joint"/>
    <!-- screw joint to capture gripper "dynamics" -->
    <simulated_actuated_joint name="r_gripper_motor_screw_joint" passive_actuated_joint="r_gripper_motor_slider_joint" simulated_reduction="3141.6"/>
  </transmission>
  <!-- Shoulder pan -->
  <joint name="l_shoulder_pan_joint" type="revolute">
    <axis xyz="0 0 1"/>
    <origin rpy="0 0 0" xyz="0.0 0.188 0.0"/>
    <!-- transform from parent link to this joint frame -->
    <parent link="torso_lift_link"/>
    <child link="l_shoulder_pan_link"/>
    <limit effort="30" lower="-0.714601836603" upper="2.2853981634" velocity="2.088"/>
    <!-- alpha tested velocity and effort limits -->
    <dynamics damping="10.0"/>
    <safety_controller k_position="100" k_velocity="10" soft_lower_limit="-0.564601836603" soft_upper_limit="2.1353981634"/>
    <!-- joint angle when the rising or the falling flag is activated on PR2 -->
    <calibration rising="0.785398163397"/>
  </joint>
  <link name="l_shoulder_pan_link">
    <inertial>
      <mass value="25.799322"/>
      <origin rpy="0 0 0" xyz="-0.001201 0.024513 -0.098231"/>
      <inertia ixx="0.866179142480" ixy="-0.06086507933" ixz="-0.12118061183" iyy="0.87421714893" iyz="-0.05886609911" izz="0.27353821674"/>
    </inertial>
    <visual>
      <origin rpy="0 0 0" xyz="0 0 0"/>
      <geometry>
        <mesh filename="meshes/shoulder_v0/shoulder_pan.dae"/>
      </geometry>
    </visual>
    <collision>
      <origin rpy="0 0 0" xyz="0.0 0 0.0"/>
      <geometry>
        <mesh filename="meshes_obj/shoulder_v0/shoulder_pan.obj"/>
      </geometry>
    </collision>
  </link>
  <!-- Shoulder lift -->
  <joint name="l_shoulder_lift_joint" type="revolute">
    <axis xyz="0 1 0"/>
    <!-- Limits updated from Function's CAD values as of 2009_02_24 (link_data.xls) -->
    <limit effort="30" lower="-0.5236" upper="1.3963" velocity="2.082"/>
    <!-- alpha tested velocity and effort limits -->
    <safety_controller k_position="100" k_velocity="10" soft_lower_limit="-0.3536" soft_upper_limit="1.2963"/>
    <calibration falling="0.0"/>
    <dynamics damping="10.0"/>
    <origin rpy="0 0 0" xyz="0.1 0 0"/>
    <parent link="l_shoulder_pan_link"/>
    <child link="l_shoulder_lift_link"/>
  </joint>
  <link name="l_shoulder_lift_link">
    <inertial>
      <mass value="2.74988"/>
      <origin rpy="0 0 0" xyz="0.02195 -0.02664 -0.03127"/>
      <inertia ixx="0.02105584615" ixy="0.00496704022" ixz="-0.00194808955" iyy="0.02127223737" iyz="0.00110425490" izz="0.01975753814"/>
    </inertial>
    <visual>
      <origin rpy="0 0 0" xyz="0 0 0"/>
      <geometry>
        <mesh filename="meshes/shoulder_v0/shoulder_lift.dae"/>
      </geometry>
    </visual>
    <collision>
      <origin rpy="0 0 0" xyz="0 0 0"/>
      <geometry>
        <mesh filename="meshes_obj/shoulder_v0/shoulder_lift.obj"/>
      </geometry>
    </collision>
  </link>
  <joint name="l_upper_arm_roll_joint" type="revolute">
    <axis xyz="1 0 0"/>
    <origin rpy="0 0 0" xyz="0 0 0"/>
    <parent link="l_shoulder_lift_link"/>
    <child link="l_upper_arm_roll_link"/>
    <limit effort="30" lower="-0.8" upper="3.9" velocity="3.27"/>
    <!-- alpha tested velocity and effort limits -->
    <safety_controller k_position="100" k_velocity="2" soft_lower_limit="-0.65" soft_upper_limit="3.75"/>
    <calibration rising="1.57079632679"/>
    <dynamics damping="0.1"/>
  </joint>
  <link name="l_upper_arm_roll_link">
    <inertial>
      <!-- dummy mass, to be removed -->
      <mass value="0.1"/>
      <origin rpy="0 0 0" xyz="0.0 0 0"/>
      <inertia ixx="0.01" ixy="0.00" ixz="0.00" iyy="0.01" iyz="0.00" izz="0.01"/>
    </inertial>
    <visual>
      <!-- TODO: This component doesn't actually have a mesh -->
      <origin rpy="0 0 0" xyz="0 0 0"/>
      <geometry>
        <mesh filename="meshes_obj/shoulder_v0/upper_arm_roll.obj"/>
      </geometry>
    </visual>
    <collision>
      <origin rpy="0 0 0" xyz="0 0 0"/>
      <geometry>
        <mesh filename="meshes_obj/shoulder_v0/upper_arm_roll_L.obj"/>
      </geometry>
    </collision>
  </link>
  <!-- <gazebo reference="l_upper_arm_roll_link">
    <material value="PR2/RollLinks"/>
    <turnGravityOff>true</turnGravityOff>
  </gazebo>
  <gazebo reference="l_upper_arm_roll_joint">
    <stopKd value="1.0"/>
    <stopKp value="1000000.0"/>
    <fudgeFactor value="0.5"/>
  </gazebo>
  <transmission name="l_upper_arm_roll_trans" type="pr2_mechanism_model/SimpleTransmission">
    <actuator name="l_upper_arm_roll_motor"/>
    <joint name="l_upper_arm_roll_joint"/>
    <mechanicalReduction>32.6525111499</mechanicalReduction>
  </transmission>
  <gazebo reference="l_shoulder_pan_link">
    <turnGravityOff>true</turnGravityOff>
  </gazebo>
  <gazebo reference="l_shoulder_pan_joint">
    <stopKd value="1.0"/>
    <stopKp value="1000000.0"/>
  </gazebo>
  <gazebo reference="l_shoulder_lift_link">
    <turnGravityOff>true</turnGravityOff>
  </gazebo>
  <gazebo reference="l_shoulder_lift_joint">
    <stopKd value="1.0"/>
    <stopKp value="1000000.0"/>
  </gazebo> -->
  <!-- Shoulder pan -->
  <transmission name="l_shoulder_pan_trans" type="pr2_mechanism_model/SimpleTransmission">
    <joint name="l_shoulder_pan_joint"/>
    <actuator name="l_shoulder_pan_motor"/>
    <mechanicalReduction>63.1552452977</mechanicalReduction>
    <compensator k_belt="4000.0" kd_motor="15.0" lambda_combined="0.0" lambda_joint="40.0" lambda_motor="40.0" mass_motor="0.05"/>
  </transmission>
  <!-- Shoulder lift -->
  <transmission name="l_shoulder_lift_trans" type="pr2_mechanism_model/SimpleTransmission">
    <joint name="l_shoulder_lift_joint"/>
    <actuator name="l_shoulder_lift_motor"/>
    <mechanicalReduction>61.8948225713</mechanicalReduction>
    <compensator k_belt="4000.0" kd_motor="10.0" lambda_combined="0.0" lambda_joint="60.0" lambda_motor="60.0" mass_motor="0.05"/>
  </transmission>
  <joint name="l_upper_arm_joint" type="fixed">
    <origin rpy="0 0 0" xyz="0 0 0"/>
    <parent link="l_upper_arm_roll_link"/>
    <child link="l_upper_arm_link"/>
  </joint>
  <link name="l_upper_arm_link">
    <inertial>
      <!-- NOTE:reflect==-1 for right side, reflect==1 for the left side -->
      <mass value="6.01769"/>
      <origin xyz="0.21405 0.01658 -0.00057"/>
      <inertia ixx="0.01530603856" ixy="-0.00339324862" ixz="0.00060765455" iyy="0.07473694455" iyz="-0.00019953729" izz="0.07601594191"/>
    </inertial>
    <visual>
      <origin rpy="0 0 0" xyz="0 0 0"/>
      <geometry>
        <mesh filename="meshes/upper_arm_v0/upper_arm.dae"/>
      </geometry>
    </visual>
    <collision>
      <origin rpy="0 0 0" xyz="0 0 0"/>
      <geometry>
        <mesh filename="meshes_obj/upper_arm_v0/upper_arm.obj"/>
      </geometry>
    </collision>
  </link>
  <!-- <gazebo reference="l_upper_arm_link">
    <turnGravityOff>true</turnGravityOff>
  </gazebo> -->
  <!-- Has upperarm link -->
  <!-- No transmission, since this a fixed joint w/o actuator -->
  <!-- forearm_roll_link is a fictitious link internal to elbow_flex_link, provides an attachment point for the actual forearm -->
  <joint name="l_forearm_roll_joint" type="continuous">
    <axis xyz="1 0 0"/>
    <limit effort="30" velocity="3.6"/>
    <!-- alpha tested velocity and effort limits -->
    <safety_controller k_velocity="1"/>
    <calibration rising="0.0"/>
    <dynamics damping="0.1"/>
    <origin rpy="0 0 0" xyz="0 0 0"/>
    <parent link="l_elbow_flex_link"/>
    <child link="l_forearm_roll_link"/>
  </joint>
  <!-- TODO: inertial tag should be optional -->
  <link name="l_forearm_roll_link">
    <inertial>
      <!-- dummy masses, to be removed -->
      <mass value="0.1"/>
      <origin xyz="0 0 0"/>
      <inertia ixx="0.01" ixy="0.00" ixz="0.00" iyy="0.01" iyz="0.00" izz="0.01"/>
    </inertial>
    <visual>
      <origin rpy="0 0 0" xyz="0 0 0"/>
      <geometry>
        <mesh filename="meshes_obj/upper_arm_v0/forearm_roll.obj"/>
      </geometry>
    </visual>
    <!-- TODO: collision tag should be optional -->
    <collision>
      <origin rpy="0 0 0" xyz="0 0 0"/>
      <geometry>
        <mesh filename="meshes_obj/upper_arm_v0/forearm_roll_L.obj"/>
      </geometry>
    </collision>
  </link>
  <!-- <gazebo reference="l_forearm_roll_link">
    <material value="PR2/RollLinks"/>
    <turnGravityOff>true</turnGravityOff>
  </gazebo>
  <gazebo reference="l_forearm_roll_joint">
    <fudgeFactor value="0.5"/>
  </gazebo> -->
  <transmission name="l_forearm_roll_trans" type="pr2_mechanism_model/SimpleTransmission">
    <actuator name="l_forearm_roll_motor"/>
    <joint name="l_forearm_roll_joint"/>
    <mechanicalReduction>-90.5142857143</mechanicalReduction>
  </transmission>
  <!-- Elbow flex -->
  <joint name="l_elbow_flex_joint" type="revolute">
    <axis xyz="0 1 0"/>
    <!-- Note: Overtravel limits are 140, -7 degrees instead of 133, 0 -->
    <limit effort="30" lower="-2.3213" upper="0.00" velocity="3.3"/>
    <!-- alpha tested velocity and effort limits -->
    <safety_controller k_position="100" k_velocity="3" soft_lower_limit="-2.1213" soft_upper_limit="-0.15"/>
    <calibration falling="-1.1606"/>
    <dynamics damping="1.0"/>
    <origin rpy="0 0 0" xyz="0.4 0 0"/>
    <parent link="l_upper_arm_link"/>
    <child link="l_elbow_flex_link"/>
  </joint>
  <link name="l_elbow_flex_link">
    <inertial>
      <mass value="1.90327"/>
      <origin xyz="0.01014 0.00032 -0.01211"/>
      <inertia ixx="0.00346541989" ixy="0.00004066825" ixz="0.00043171614" iyy="0.00441606455" iyz="-0.00003968914" izz="0.00359156824"/>
    </inertial>
    <visual>
      <origin rpy="0 0 0" xyz="0 0 0"/>
      <geometry>
        <mesh filename="meshes/upper_arm_v0/elbow_flex.dae"/>
      </geometry>
    </visual>
    <collision>
      <origin rpy="0 0 0" xyz="0 0 0"/>
      <geometry>
        <mesh filename="meshes_obj/upper_arm_v0/elbow_flex.obj"/>
      </geometry>
    </collision>
  </link>
  <!-- testing initial joint position, to be parsed at urdf2gazebo parse time ->
    <gazebo reference="${side}_elbow_flex_joint">
      <initial_joint_position>-1.0</initial_joint_position>
    </gazebo>
    -->
  <!-- <gazebo reference="l_elbow_flex_link">
    <turnGravityOff>true</turnGravityOff>
  </gazebo>
  <gazebo reference="l_elbow_flex_joint">
    <stopKd value="1.0"/>
    <stopKp value="1000000.0"/>
  </gazebo> -->
  <!-- Elbow flex -->
  <transmission name="l_elbow_flex_trans" type="pr2_mechanism_model/SimpleTransmission">
    <actuator name="l_elbow_flex_motor"/>
    <joint name="l_elbow_flex_joint"/>
    <mechanicalReduction>-36.167452007</mechanicalReduction>
  </transmission>
  <joint name="l_forearm_joint" type="fixed">
    <origin rpy="0 0 0" xyz="0 0 0"/>
    <!-- transform from parent link to this joint frame -->
    <parent link="l_forearm_roll_link"/>
    <child link="l_forearm_link"/>
  </joint>
  <link name="l_forearm_link">
    <inertial>
      <mass value="2.57968"/>
      <origin xyz="0.18791 -0.00017 -0.00912"/>
      <inertia ixx="0.00364857222" ixy="0.00005215877" ixz="0.00071534842" iyy="0.01507736897" iyz="-0.00001310770" izz="0.01659310749"/>
    </inertial>
    <visual>
      <origin rpy="0 0 0" xyz="0 0 0"/>
      <geometry>
        <mesh filename="meshes/forearm_v0/forearm.dae"/>
      </geometry>
    </visual>
    <collision>
      <origin rpy="0 0 0" xyz="0 0 0"/>
      <geometry>
        <mesh filename="meshes_obj/forearm_v0/forearm.obj"/>
      </geometry>
    </collision>
  </link>
  <!-- Wrist flex -->
  <joint name="l_wrist_flex_joint" type="revolute">
    <axis xyz="0 1 0"/>
    <limit effort="10" lower="-2.18" upper="0.0" velocity="3.078"/>
    <!-- alpha tested velocity and effort limits -->
    <safety_controller k_position="20" k_velocity="4" soft_lower_limit="-2.0" soft_upper_limit="-0.1"/>
    <dynamics damping="0.1"/>
    <calibration falling="-0.5410521"/>
    <origin rpy="0 0 0" xyz="0.321 0 0"/>
    <parent link="l_forearm_link"/>
    <child link="l_wrist_flex_link"/>
  </joint>
  <link name="l_wrist_flex_link">
    <inertial>
      <mass value="0.61402"/>
      <origin xyz="-0.00157 0.0 -0.00075"/>
      <inertia ixx="0.00065165722" ixy="0.00000028864" ixz="0.00000303477" iyy="0.00019824443" iyz="-0.00000022645" izz="0.00064450498"/>
    </inertial>
    <visual>
      <origin rpy="0 0 0" xyz="0 0 0"/>
      <geometry>
        <mesh filename="meshes/forearm_v0/wrist_flex.dae"/>
      </geometry>
    </visual>
    <collision>
      <origin rpy="0 0 0" xyz="0 0 0"/>
      <geometry>
        <mesh filename="meshes_obj/forearm_v0/wrist_flex.obj"/>
      </geometry>
    </collision>
  </link>
  <!-- Wrist roll -->
  <joint name="l_wrist_roll_joint" type="continuous">
    <axis xyz="1 0 0"/>
    <limit effort="10" velocity="3.6"/>
    <!-- alpha tested velocity and effort limits -->
    <safety_controller k_velocity="2"/>
    <dynamics damping="0.1"/>
    <calibration rising="-1.57079632679"/>
    <origin rpy="0 0 0" xyz="0 0 0"/>
    <parent link="l_wrist_flex_link"/>
    <child link="l_wrist_roll_link"/>
  </joint>
  <link name="l_wrist_roll_link">
    <inertial>
      <!-- dummy masses, to be removed.  wrist roll masses are on "gripper_palm" -->
      <mass value="0.1"/>
      <origin xyz="0 0 0"/>
      <inertia ixx="0.01" ixy="0" ixz="0" iyy="0.01" iyz="0" izz="0.01"/>
    </inertial>
    <visual>
      <origin rpy="0 0 0" xyz="0 0 0"/>
      <geometry>
        <mesh filename="meshes_obj/forearm_v0/wrist_roll.obj"/>
      </geometry>
    </visual>
    <collision>
      <origin rpy="0 0 0" xyz="0 0 0"/>
      <geometry>
        <mesh filename="meshes_obj/forearm_v0/wrist_roll_L.obj"/>
      </geometry>
    </collision>
  </link>
 <!--  <gazebo reference="l_forearm_link">
    <turnGravityOff>true</turnGravityOff>
  </gazebo>
  <gazebo reference="l_wrist_flex_link">
    <turnGravityOff>true</turnGravityOff>
  </gazebo>
  <gazebo reference="l_wrist_flex_joint">
    <stopKd value="1.0"/>
    <stopKp value="1000000.0"/>
  </gazebo>
  <gazebo reference="l_wrist_roll_link">
    <turnGravityOff>true</turnGravityOff>
    <material value="PR2/RollLinks"/>
  </gazebo>
  <gazebo reference="l_wrist_roll_joint">
    <fudgeFactor value="0.5"/>
  </gazebo> -->
  <!-- Wrist flex , Wrist roll -->
  <transmission name="l_wrist_trans" type="pr2_mechanism_model/WristTransmission">
    <rightActuator mechanicalReduction="60.1714285714" name="l_wrist_r_motor"/>
    <leftActuator mechanicalReduction="60.1714285714" name="l_wrist_l_motor"/>
    <flexJoint mechanicalReduction="-1.0" name="l_wrist_flex_joint"/>
    <rollJoint mechanicalReduction="1.0" name="l_wrist_roll_joint"/>
  </transmission>
  <joint name="l_gripper_palm_joint" type="fixed">
    <origin rpy="0 0 0" xyz="0 0 0"/>
    <parent link="l_wrist_roll_link"/>
    <child link="l_gripper_palm_link"/>
  </joint>
  <link name="l_gripper_palm_link">
    <inertial>
      <mass value="0.58007"/>
      <origin rpy="0 0 0" xyz="0.06623 0.00053 -0.00119"/>
      <inertia ixx="0.00035223921" ixy="-0.00001580476" ixz="-0.00000091750" iyy="0.00067741312" iyz="-0.00000059554" izz="0.00086563316"/>
    </inertial>
    <visual>
      <origin rpy="0 0 0" xyz="0 0 0"/>
      <geometry>
        <mesh filename="meshes/gripper_v0/gripper_palm.dae"/>
      </geometry>
    </visual>
    <collision>
      <origin rpy="0 0 0" xyz="0 0 0"/>
      <geometry>
        <mesh filename="meshes_obj/gripper_v0/gripper_palm.obj"/>
      </geometry>
    </collision>
  </link>
  <!-- <joint name="l_gripper_led_joint" type="fixed">
    <origin xyz="0.0513 0.0 .0244"/>
    <parent link="l_gripper_palm_link"/>
    <child link="l_gripper_led_frame"/>
  </joint>
  <link name="l_gripper_led_frame"/> -->
  <joint name="l_gripper_motor_accelerometer_joint" type="fixed">
    <origin rpy="0 0 0" xyz="0 0 0"/>
    <parent link="l_gripper_palm_link"/>
    <child link="l_gripper_motor_accelerometer_link"/>
  </joint>
  <link name="l_gripper_motor_accelerometer_link">
    <inertial>
      <mass value="0.001"/>
      <origin rpy="0 0 0" xyz="0 0 0"/>
      <inertia ixx="0.001" ixy="0.0" ixz="0.0" iyy="0.001" iyz="0.0" izz="0.001"/>
    </inertial>
    <visual>
      <origin rpy="0 0 0" xyz="0 0 0"/>
      <geometry>
        <box size="0.001 0.001 0.001"/>
      </geometry>
    </visual>
    <collision>
      <origin rpy="0 0 0" xyz="0 0 0"/>
      <geometry>
        <box size="0.001 0.001 0.001"/>
      </geometry>
    </collision>
  </link>
  <!-- <joint name="l_gripper_tool_joint" type="fixed">
    <origin rpy="0 0 0" xyz="0.18 0 0"/>
    <parent link="l_gripper_palm_link"/>
    <child link="l_gripper_tool_frame"/>
  </joint>
  <link name="l_gripper_tool_frame"/> -->
  <!-- actuated motor screw joint -->
  <!-- <link name="l_gripper_motor_slider_link">
    <inertial>
      <mass value="0.01"/>
      <origin rpy="0 0 0" xyz="0 0 0"/>
      <inertia ixx="0.001" ixy="0.0" ixz="0.0" iyy="0.001" iyz="0.0" izz="0.001"/>
    </inertial>
  </link>
  <joint name="l_gripper_motor_slider_joint" type="prismatic">
    <origin rpy="0 0 0" xyz="0.16828 0 0"/>
    <axis xyz="1 0 0"/>
    <parent link="l_gripper_palm_link"/>
    <child link="l_gripper_motor_slider_link"/>
    <limit effort="1000.0" lower="-0.1" upper="0.1" velocity="0.2"/>
  </joint> -->
  <!-- <link name="l_gripper_motor_screw_link">
    <inertial>
      <mass value="0.01"/>
      <origin rpy="0 0 0" xyz="0 0 0"/>
      <inertia ixx="0.0001" ixy="0.0" ixz="0.0" iyy="0.0001" iyz="0.0" izz="0.0001"/>
    </inertial>
  </link>
  <joint name="l_gripper_motor_screw_joint" type="continuous">
    <origin rpy="0 0 0" xyz="0.0 0 0"/>
    <axis xyz="0 1 0"/>
    <parent link="l_gripper_motor_slider_link"/>
    <child link="l_gripper_motor_screw_link"/>
    <dynamics damping="0.0001"/>
  </joint> -->
  <!-- Finger proximal digit -->
  <joint name="l_gripper_l_finger_joint" type="revolute">
    <axis xyz="0 0 1"/>
    <!-- limits on passive finger and finger top joints without
         transmission are not enforced by safety controllers.
         The lower/upper limits and are enforced in PR2 simulation and
         effort and velocity limits are ignored. This is also needed because
         these joints are declared revolute rather than continuous.-->
    <limit effort="1000.0" lower="0.0" upper="0.548" velocity="0.5"/>
    <dynamics damping="0.02"/>
    <origin rpy="0 0 0" xyz="0.07691 0.01 0"/>
    <parent link="l_gripper_palm_link"/>
    <child link="l_gripper_l_finger_link"/>
  </joint>
  <link name="l_gripper_l_finger_link">
    <inertial>
      <mass value="0.17126"/>
      <origin rpy="0 0 0" xyz="0.03598 0.01730 -0.00164"/>
      <inertia ixx="0.00007756198" ixy="0.00000149095" ixz="-0.00000983385" iyy="0.00019708305" iyz="-0.00000306125" izz="0.00018105446"/>
    </inertial>
    <visual>
      <origin rpy="0 0 0" xyz="0 0 0"/>
      <geometry>
        <mesh filename="meshes/gripper_v0/l_finger.dae"/>
      </geometry>
    </visual>
    <collision>
      <origin rpy="0 0 0" xyz="0 0 0"/>
      <geometry>
        <mesh filename="meshes_obj/gripper_v0/l_finger.obj"/>
      </geometry>
    </collision>
  </link>
  <!-- Finger proximal digit -->
  <joint name="l_gripper_r_finger_joint" type="revolute">
    <axis xyz="0 0 -1"/>
    <origin rpy="0 0 0" xyz="0.07691 -0.01 0"/>
    <!-- limits on passive finger and finger top joints without
         transmission are not enforced by safety controllers.
         The lower/upper limits and are enforced in PR2 simulation and
         effort and velocity limits are ignored. This is also needed because
         these joints are declared revolute rather than continuous.-->
    <limit effort="1000.0" lower="0.0" upper="0.548" velocity="0.5"/>
    <dynamics damping="0.02"/>
    <mimic joint="l_gripper_l_finger_joint" multiplier="1" offset="0"/>
    <parent link="l_gripper_palm_link"/>
    <child link="l_gripper_r_finger_link"/>
  </joint>
  <link name="l_gripper_r_finger_link">
    <inertial>
      <mass value="0.17389"/>
      <origin rpy="0 0 0" xyz="0.03576 -0.01736 -0.00095"/>
      <inertia ixx="0.00007738410" ixy="-0.00000209309" ixz="-0.00000836228" iyy="0.00019847383" iyz="0.00000246110" izz="0.00018106988"/>
    </inertial>
    <visual>
      <origin rpy="3.14159265359 0 0" xyz="0 0 0"/>
      <geometry>
        <mesh filename="meshes/gripper_v0/l_finger.dae"/>
      </geometry>
    </visual>
    <collision>
      <origin rpy="3.14159265359 0 0" xyz="0 0 0"/>
      <geometry>
        <mesh filename="meshes_obj/gripper_v0/l_finger.obj"/>
      </geometry>
    </collision>
  </link>
  <!-- Finger tip -->
  <joint name="l_gripper_l_finger_tip_joint" type="revolute">
    <axis xyz="0 0 -1"/>
    <origin rpy="0 0 0" xyz="0.09137 0.00495 0"/>
    <!-- limits on passive finger and finger top joints without
         transmission are not enforced by safety controllers.
         The lower/upper limits and are enforced in PR2 simulation and
         effort and velocity limits are ignored. This is also needed because
         these joints are declared revolute rather than continuous.-->
    <limit effort="1000.0" lower="0.0" upper="0.548" velocity="0.5"/>
    <dynamics damping="0.001"/>
    <mimic joint="l_gripper_l_finger_joint" multiplier="1" offset="0"/>
    <parent link="l_gripper_l_finger_link"/>
    <child link="l_gripper_l_finger_tip_link"/>
  </joint>
  <link name="l_gripper_l_finger_tip_link">
    <inertial>
      <mass value="0.04419"/>
      <origin rpy="0 0 0" xyz="0.00423 0.00284 0.0"/>
      <inertia ixx="0.00000837047" ixy="0.00000583632" ixz="0.0" iyy="0.00000987067" iyz="0.0" izz="0.00001541768"/>
    </inertial>
    <visual>
      <origin rpy="0 0 0" xyz="0 0 0"/>
      <geometry>
        <mesh filename="meshes/gripper_v0/l_finger_tip.dae"/>
      </geometry>
    </visual>
    <collision>
      <origin rpy="0 0 0" xyz="0 0 0"/>
      <geometry>
        <mesh filename="meshes_obj/gripper_v0/l_finger_tip.obj"/>
      </geometry>
    </collision>
  </link>
  <!-- Finger tip -->
  <joint name="l_gripper_r_finger_tip_joint" type="revolute">
    <axis xyz="0 0 1"/>
    <origin rpy="0 0 0" xyz="0.09137 -0.00495 0"/>
    <!-- limits on passive finger and finger top joints without
         transmission are not enforced by safety controllers.
         The lower/upper limits and are enforced in PR2 simulation and
         effort and velocity limits are ignored. This is also needed because
         these joints are declared revolute rather than continuous.-->
    <limit effort="1000.0" lower="0.0" upper="0.548" velocity="0.5"/>
    <dynamics damping="0.001"/>
    <mimic joint="l_gripper_l_finger_joint" multiplier="1" offset="0"/>
    <parent link="l_gripper_r_finger_link"/>
    <child link="l_gripper_r_finger_tip_link"/>
  </joint>
  <link name="l_gripper_r_finger_tip_link">
    <inertial>
      <mass value="0.04419"/>
      <origin rpy="0 0 0" xyz="0.00423 -0.00284 0.0"/>
      <inertia ixx="0.00000837047" ixy="-0.00000583632" ixz="0.0" iyy="0.00000987067" iyz="0.0" izz="0.00001541768"/>
    </inertial>
    <visual>
      <origin rpy="3.14159265359 0 0" xyz="0 0 0"/>
      <geometry>
        <mesh filename="meshes/gripper_v0/l_finger_tip.dae"/>
      </geometry>
    </visual>
    <collision>
      <origin rpy="3.14159265359 0 0" xyz="0 0 0"/>
      <geometry>
        <mesh filename="meshes_obj/gripper_v0/l_finger_tip.obj"/>
      </geometry>
    </collision>
  </link>
  <!-- Finger proximal digit -->
  <!-- <gazebo reference="l_gripper_l_finger_link">
    <turnGravityOff>true</turnGravityOff>
    <mu1 value="500.0"/>
    <mu2 value="500.0"/>
    <kp value="1000000.0"/>
    <kd value="1.0"/>
  </gazebo>
  <gazebo reference="l_gripper_l_finger_joint">
    <stopKd value="1.0"/>
    <stopKp value="10000000.0"/>
    <fudgeFactor value="1.0"/>
    <provideFeedback value="true"/>
  </gazebo>
  <gazebo reference="l_gripper_r_finger_link">
    <turnGravityOff>true</turnGravityOff>
    <mu1 value="500.0"/>
    <mu2 value="500.0"/>
    <kp value="1000000.0"/>
    <kd value="1.0"/>
  </gazebo>
  <gazebo reference="l_gripper_r_finger_joint">
    <stopKd value="1.0"/>
    <stopKp value="10000000.0"/>
    <fudgeFactor value="1.0"/>
    <provideFeedback value="true"/>
  </gazebo>
  <gazebo reference="l_gripper_l_finger_tip_link">
    <turnGravityOff>true</turnGravityOff>
    <selfCollide>false</selfCollide>
    <sensor name="l_gripper_l_finger_tip_contact_sensor" type="contact">
      <update_rate>100.0</update_rate>
      <contact>
        <collision>l_gripper_l_finger_tip_link_collision</collision>
      </contact>
      <plugin filename="libgazebo_ros_bumper.so" name="l_gripper_l_finger_tip_gazebo_ros_bumper_controller">
        <alwaysOn>true</alwaysOn>
        <frameName>l_gripper_l_finger_tip_link</frameName>
        <updateRate>100.0</updateRate>
        <bumperTopicName>l_gripper_l_finger_tip_bumper</bumperTopicName>
      </plugin>
    </sensor>
    <mu1 value="500.0"/>
    <mu2 value="500.0"/>
    <kp value="10000000.0"/>
    <kd value="1.0"/>
  </gazebo>
  <gazebo reference="l_gripper_l_finger_tip_joint">
    <stopKd value="1.0"/>
    <stopKp value="10000000.0"/>
    <fudgeFactor value="1.0"/>
    <provideFeedback value="true"/>
  </gazebo> -->
  <!-- Finger tip -->
  <!-- <gazebo reference="l_gripper_r_finger_tip_link">
    <turnGravityOff>true</turnGravityOff>
    <selfCollide>false</selfCollide>
    <sensor name="l_gripper_r_finger_tip_contact_sensor" type="contact">
      <update_rate>100.0</update_rate>
      <contact>
        <collision>l_gripper_r_finger_tip_link_collision</collision>
      </contact>
      <plugin filename="libgazebo_ros_bumper.so" name="l_gripper_r_finger_tip_gazebo_ros_bumper_controller">
        <alwaysOn>true</alwaysOn>
        <frameName>l_gripper_r_finger_tip_link</frameName>
        <updateRate>100.0</updateRate>
        <bumperTopicName>l_gripper_r_finger_tip_bumper</bumperTopicName>
      </plugin>
    </sensor>
    <mu1 value="500.0"/>
    <mu2 value="500.0"/>
    <kp value="10000000.0"/>
    <kd value="1.0"/>
  </gazebo>
  <gazebo>
    <plugin filename="libgazebo_ros_p3d.so" name="p3d_l_gripper_l_finger_controller">
      <alwaysOn>true</alwaysOn>
      <updateRate>100.0</updateRate>
      <bodyName>l_gripper_l_finger_link</bodyName>
      <topicName>l_gripper_l_finger_pose_ground_truth</topicName>
      <gaussianNoise>0.0</gaussianNoise>
      <frameName>base_link</frameName>
    </plugin>
    <plugin filename="libgazebo_ros_f3d.so" name="f3d_l_gripper_l_finger_controller">
      <alwaysOn>true</alwaysOn>
      <updateRate>100.0</updateRate>
      <bodyName>l_gripper_l_finger_link</bodyName>
      <topicName>l_gripper_l_finger_force_ground_truth</topicName>
    </plugin>
  </gazebo>
  <gazebo reference="l_gripper_r_finger_tip_joint">
    <stopKd value="1.0"/>
    <stopKp value="10000000.0"/>
    <fudgeFactor value="1.0"/>
    <provideFeedback value="true"/>
  </gazebo> -->
  <!-- parallel link for simulating gripper constraints -->
  <!-- <gazebo>
    <link name="l_gripper_l_parallel_link">
      <inertial>
        <mass>0.17126</mass>
        <inertia>
          <ixx>7.7562e-05</ixx>
          <ixy>1.49095e-06</ixy>
          <ixz>-9.83385e-06</ixz>
          <iyy>0.000197083</iyy>
          <iyz>-3.06125e-06</iyz>
          <izz>0.000181054</izz>
        </inertia>
        <pose>0.03598 0.0173 -0.00164 0 0 0</pose>
      </inertial>
      <pose>0.82991 0.219 0.790675 0 -0 0</pose>
      <gravity>false</gravity>
    </link>
    <link name="l_gripper_r_parallel_link">
      <inertial>
        <mass>0.17389</mass>
        <inertia>
          <ixx>7.73841e-05</ixx>
          <ixy>-2.09309e-06</ixy>
          <ixz>-8.36228e-06</ixz>
          <iyy>0.000198474</iyy>
          <iyz>2.4611e-06</iyz>
          <izz>0.00018107</izz>
        </inertia>
        <pose>0.03576 -0.01736 -0.00095 0 0 0</pose>
      </inertial>
      <pose>0.82991 0.157 0.790675 0 0 0</pose>
      <gravity>false</gravity>
    </link>
  </gazebo>
  <gazebo>
    <joint name="l_gripper_r_screw_screw_joint" type="screw">
      <child>l_gripper_motor_screw_link</child>
      <parent>l_gripper_r_finger_tip_link</parent>
      <thread_pitch>-3141.6</thread_pitch>
      <axis>
        <xyz>0 1 0</xyz>
      </axis>
    </joint>
    <joint name="l_gripper_l_screw_screw_joint" type="screw">
      <parent>l_gripper_l_finger_tip_link</parent>
      <child>l_gripper_motor_screw_link</child>
      <thread_pitch>3141.6</thread_pitch>
      <axis>
        <xyz>0 1 0</xyz>
      </axis>
    </joint>
  </gazebo>
  <gazebo>
    <joint name="l_gripper_r_parallel_root_joint" type="revolute">
      <parent>l_gripper_r_parallel_link</parent>
      <child>l_gripper_palm_link</child>
      <axis>
        <xyz>0 0 -1</xyz>
        <dynamics>
          <damping>0.2</damping>
        </dynamics>
      </axis>
      <pose>0.05891 -0.031 0 0 0 0</pose>
    </joint>
    <joint name="l_gripper_l_parallel_root_joint" type="revolute">
      <parent>l_gripper_l_parallel_link</parent>
      <child>l_gripper_palm_link</child>
      <axis>
        <xyz>0 0 1</xyz>
        <dynamics>
          <damping>0.2</damping>
        </dynamics>
      </axis>
      <pose>0.05891 0.031 0 0 0 0</pose>
    </joint>
    <joint name="l_gripper_r_parallel_tip_joint" type="revolute">
      <parent>l_gripper_r_parallel_link</parent>
      <child>l_gripper_r_finger_tip_link</child>
      <axis>
        <xyz>0 0 1</xyz>
      </axis>
      <pose>-0.018 -0.021 0 0 0 0</pose>
    </joint>
    <joint name="l_gripper_l_parallel_tip_joint" type="revolute">
      <parent>l_gripper_l_parallel_link</parent>
      <child>l_gripper_l_finger_tip_link</child>
      <axis>
        <xyz>0 0 1</xyz>
      </axis>
      <pose>-0.018 0.021 0 0 0 0</pose>
    </joint>
    <joint name="l_gripper_joint" type="prismatic">
      <parent>l_gripper_r_finger_tip_link</parent>
      <child>l_gripper_l_finger_tip_link</child>
      <axis>
        <xyz>0 1 0</xyz>
      </axis>
    </joint>
  </gazebo>
  <gazebo reference="l_gripper_motor_slider_link">
    <turnGravityOff>true</turnGravityOff>
    <material value="PR2/Red"/>
  </gazebo>
  <gazebo reference="l_gripper_motor_screw_link">
    <turnGravityOff>true</turnGravityOff>
    <material value="PR2/Red"/>
  </gazebo>
  <gazebo reference="l_gripper_l_parallel_link">
    <turnGravityOff>true</turnGravityOff>
    <material value="PR2/Red"/>
  </gazebo>
  <gazebo reference="l_gripper_r_parallel_link">
    <turnGravityOff>true</turnGravityOff>
    <material value="PR2/Red"/>
  </gazebo> -->
  <!-- fictitous joint that represents the gripper gap -->
  <!-- effort is the linear force at the gripper gap
         velocity limit is the linear velocity limit at the gripper gap
         try and introduce a very stiff spring
         The velocity limits are alpha tested.
         The effort limits are somewhat inflated.
         k_velocity was recently raised from 500.0 to 5000.0.  Tested on beta
    -->
  <!-- <joint name="l_gripper_joint" type="prismatic">
    <parent link="l_gripper_r_finger_tip_link"/>
    <child link="l_gripper_l_finger_tip_frame"/>
    <axis xyz="0 1 0"/>
    <dynamics damping="10.0"/>
    <limit effort="1000.0" lower="0.0" upper="0.09" velocity="0.2"/>
    <safety_controller k_position="20.0" k_velocity="5000.0" soft_lower_limit="-0.01" soft_upper_limit="0.088"/>
  </joint>
  <link name="l_gripper_l_finger_tip_frame"/> -->
  <!-- <gazebo reference="l_gripper_palm_link">
    <turnGravityOff>true</turnGravityOff>
  </gazebo>
  <gazebo>
    <plugin filename="libgazebo_ros_p3d.so" name="p3d_l_gripper_palm_controller">
      <alwaysOn>true</alwaysOn>
      <updateRate>100.0</updateRate>
      <bodyName>l_gripper_palm_link</bodyName>
      <topicName>l_gripper_palm_pose_ground_truth</topicName>
      <xyzOffsets>0 0 0</xyzOffsets>
      <rpyOffsets>0 0 0</rpyOffsets>
      <gaussianNoise>0.0</gaussianNoise>
      <frameName>map</frameName>
    </plugin>
    <gripper name="l_grasp_hack">
      <grasp_check>
        <attach_steps>20</attach_steps>
        <detach_steps>40</detach_steps>
        <min_contact_count>2</min_contact_count>
      </grasp_check>
      <gripper_link>l_gripper_r_finger_tip_link</gripper_link>
      <gripper_link>l_gripper_l_finger_tip_link</gripper_link>
      <palm_link>l_gripper_palm_link</palm_link>
    </gripper>
  </gazebo> -->
  <!-- [lr]_gripper_joint is a fictitious joint, used by transmission for controller gap   -->
  <!-- [lr]_gripper_joint is not attached to any link                                      -->
  <!-- [lr]_gripper_joint position is the gap_size                                         -->
  <!-- [lr]_gripper_joint velocity is the gap linear velocity                              -->
  <!-- [lr]_gripper_joint effort   is the gap linear force                                 -->
  <!-- Please refer to function engineering spreadsheet 090224_link_data.xls for           -->
  <!-- the transmission function.                                                          -->
  <!-- Please refer to mechanism_model/src/pr2_gripper_transmission.cpp for implementation.-->
  <!-- gazebo_mimic_pid is for sim only.                                                   -->
  <transmission name="l_gripper_trans" type="pr2_mechanism_model/PR2GripperTransmission">
    <actuator name="l_gripper_motor"/>
    <gap_joint L0="0.0375528" a="0.0683698" b="0.0433849" gear_ratio="40.095" h="0.0" mechanical_reduction="1.0" name="l_gripper_joint" phi0="0.518518122146" r="0.0915" screw_reduction="0.004" t0="-0.0001914" theta0="0.0628824676201"/>
    <!-- if a gazebo joint exists as [l|r]_gripper_joint, use this tag to have
           gripper transmission apply torque directly to prismatic joint
           this should be the default behavior in diamondback, deprecating this flag -->
    <use_simulated_gripper_joint/>
    <!-- set passive joint angles so things look nice in rviz -->
    <passive_joint name="l_gripper_l_finger_joint"/>
    <passive_joint name="l_gripper_r_finger_joint"/>
    <passive_joint name="l_gripper_r_finger_tip_joint"/>
    <passive_joint name="l_gripper_l_finger_tip_joint"/>
    <!-- screw joint to capture gripper "dynamics" -->
    <simulated_actuated_joint name="l_gripper_motor_screw_joint" passive_actuated_joint="l_gripper_motor_slider_joint" simulated_reduction="3141.6"/>
  </transmission>
  <!-- <joint name="l_forearm_cam_frame_joint" type="fixed">
    <origin rpy="-1.57079632679 -0.562868683768 0" xyz=".135 0 .044"/>
    <parent link="l_forearm_roll_link"/>
    <child link="l_forearm_cam_frame"/>
  </joint>
  <link name="l_forearm_cam_frame">
    <inertial>
      <mass value="0.01"/>
      <origin xyz="0 0 0"/>
      <inertia ixx="0.001" ixy="0.0" ixz="0.0" iyy="0.001" iyz="0.0" izz="0.001"/>
    </inertial>
  </link> -->
  <!-- <joint name="l_forearm_cam_optical_frame_joint" type="fixed">
    <origin rpy="-1.57079632679 0.0 -1.57079632679" xyz="0 0 0"/>
    <parent link="l_forearm_cam_frame"/>
    <child link="l_forearm_cam_optical_frame"/>
  </joint>
  <link name="l_forearm_cam_optical_frame"/> -->
  <!-- <gazebo reference="l_forearm_cam_frame">
    <sensor name="l_forearm_cam_sensor" type="camera">
      <always_on>true</always_on>
      <update_rate>25.0</update_rate>
      <camera>
        <horizontal_fov>1.57079632679</horizontal_fov>
        <image>
          <format>R8G8B8</format>
          <width>640</width>
          <height>480</height>
        </image>
        <clip>
          <near>0.1</near>
          <far>100</far>
        </clip>
      </camera>
      <plugin filename="libgazebo_ros_camera.so" name="l_forearm_cam_controller">
        <alwaysOn>true</alwaysOn>
        <updateRate>25.0</updateRate>
        <cameraName>l_forearm_cam</cameraName>
        <imageTopicName>image_raw</imageTopicName>
        <cameraInfoTopicName>camera_info</cameraInfoTopicName>
        <frameName>l_forearm_cam_optical_frame</frameName>
        <hackBaseline>0</hackBaseline>
        <CxPrime>320.5</CxPrime>
        <Cx>320.5</Cx>
        <Cy>240.5</Cy>
        <focalLength>320.000105</focalLength>
        <distortionK1>0.0</distortionK1>
        <distortionK2>0.0</distortionK2>
        <distortionK3>0.0</distortionK3>
        <distortionT1>0.0</distortionT1>
        <distortionT2>0.0</distortionT2>
      </plugin>
    </sensor>
    <turnGravityOff>true</turnGravityOff>
    <material>PR2/Blue</material>
  </gazebo> -->
  <!-- <joint name="r_forearm_cam_frame_joint" type="fixed">
    <origin rpy="1.57079632679 -0.562868683768 0" xyz=".135 0 .044"/>
    <parent link="r_forearm_roll_link"/>
    <child link="r_forearm_cam_frame"/>
  </joint>
  <link name="r_forearm_cam_frame">
    <inertial>
      <mass value="0.01"/>
      <origin xyz="0 0 0"/>
      <inertia ixx="0.001" ixy="0.0" ixz="0.0" iyy="0.001" iyz="0.0" izz="0.001"/>
    </inertial>
  </link>
  <joint name="r_forearm_cam_optical_frame_joint" type="fixed">
    <origin rpy="-1.57079632679 0.0 -1.57079632679" xyz="0 0 0"/>
    <parent link="r_forearm_cam_frame"/>
    <child link="r_forearm_cam_optical_frame"/>
  </joint>
  <link name="r_forearm_cam_optical_frame"/> -->
  <!-- <gazebo reference="r_forearm_cam_frame">
    <sensor name="r_forearm_cam_sensor" type="camera">
      <always_on>true</always_on>
      <update_rate>25.0</update_rate>
      <camera>
        <horizontal_fov>1.57079632679</horizontal_fov>
        <image>
          <format>R8G8B8</format>
          <width>640</width>
          <height>480</height>
        </image>
        <clip>
          <near>0.1</near>
          <far>100</far>
        </clip>
      </camera>
      <plugin filename="libgazebo_ros_camera.so" name="r_forearm_cam_controller">
        <alwaysOn>true</alwaysOn>
        <updateRate>25.0</updateRate>
        <cameraName>r_forearm_cam</cameraName>
        <imageTopicName>image_raw</imageTopicName>
        <cameraInfoTopicName>camera_info</cameraInfoTopicName>
        <frameName>r_forearm_cam_optical_frame</frameName>
        <hackBaseline>0</hackBaseline>
        <CxPrime>320.5</CxPrime>
        <Cx>320.5</Cx>
        <Cy>240.5</Cy>
        <focalLength>320.000105</focalLength>
        <distortionK1>0.0</distortionK1>
        <distortionK2>0.0</distortionK2>
        <distortionK3>0.0</distortionK3>
        <distortionT1>0.0</distortionT1>
        <distortionT2>0.0</distortionT2>
      </plugin>
    </sensor>
    <turnGravityOff>true</turnGravityOff>
    <material>PR2/Blue</material>
  </gazebo> -->
</robot>
